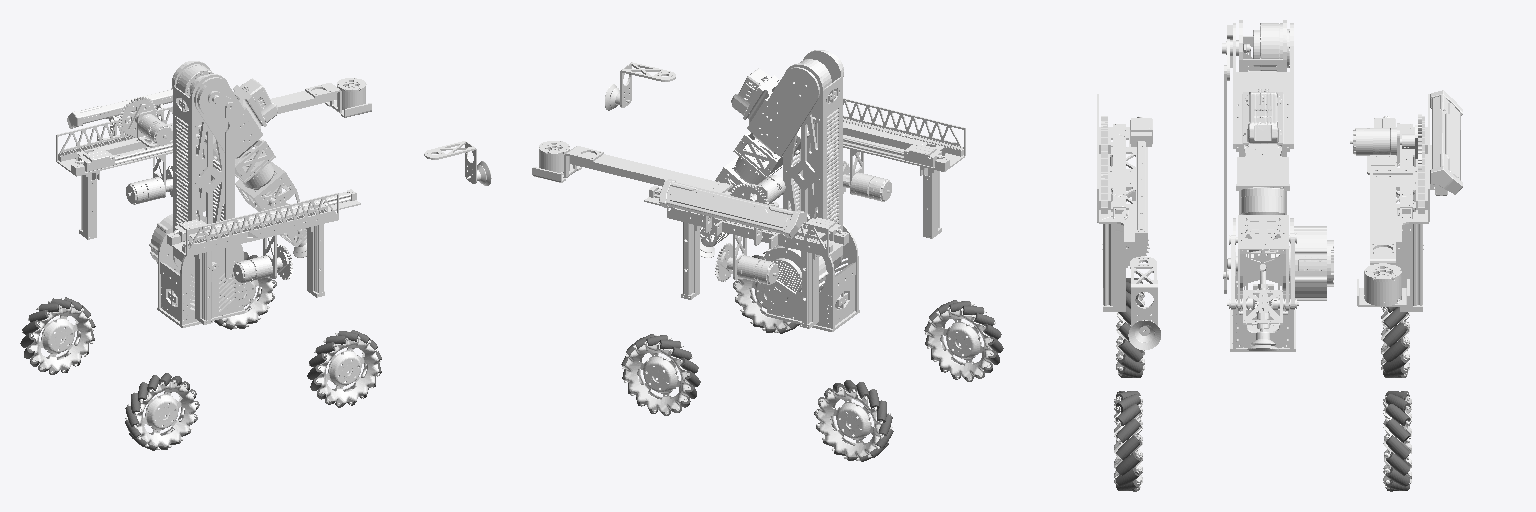
--- What the picture shows (computed from the rendered views, not written in the file) ---
The picture shows the robot from 3 angles, left to right: view 1: azimuth 30°, elevation 25°; view 2: azimuth 150°, elevation 25°; view 3: azimuth 270°, elevation 25°; orthographic projection.
Robot: engineer — 84 links, 83 joints (9 revolute, 68 continuous, 4 prismatic, 2 fixed); root link base_link; default pose: all joints at 0 but 5 set to mid-range because 0 is outside their limits (link2_joint = 1.05, left_z_joint = 0.0448, left_x_joint = 0.1548, right_z_joint = 0.0448, right_x_joint = 0.1548).
Visible links, largest first — view 1: right_z_link, link2, left_z_link, link1, left_x_link, link3, wheel_RB, wheel_LB, wheel_RF, link5, wheel_LF, right_yaw_link (+1 smaller); view 2: left_z_link, link2, right_z_link, link1, link3, left_x_link, wheel_LF, wheel_RB, wheel_LB, wheel_RF, right_yaw_link, link4 (+1 smaller); view 3: right_z_link, left_z_link, left_x_link, link1, link3, link2, link5, right_yaw_link, link4, link6, wheel_RF, wheel_LF (+1 smaller).
Boxes of the visible links, bbox=[...] form: right_z_link: bbox=[167, 189, 360, 324]; link2: bbox=[173, 61, 235, 280]; left_z_link: bbox=[56, 88, 260, 239]; link1: bbox=[149, 212, 244, 327]; left_x_link: bbox=[119, 78, 371, 147]; link3: bbox=[172, 61, 277, 162]; wheel_RB: bbox=[125, 378, 197, 449]; wheel_LB: bbox=[22, 298, 93, 373]; wheel_RF: bbox=[309, 331, 380, 405]; link5: bbox=[235, 153, 303, 236]; wheel_LF: bbox=[222, 277, 275, 328]; right_yaw_link: bbox=[424, 141, 491, 185]; left_z_link: bbox=[644, 179, 848, 328]; link2: bbox=[783, 50, 843, 269]; right_z_link: bbox=[749, 98, 965, 238]; link1: bbox=[760, 214, 859, 331]; link3: bbox=[731, 50, 843, 156]; left_x_link: bbox=[532, 141, 785, 206]; wheel_LF: bbox=[622, 335, 694, 414]; wheel_RB: bbox=[925, 301, 1000, 380]; wheel_LB: bbox=[816, 386, 892, 460]; wheel_RF: bbox=[734, 278, 790, 332]; right_yaw_link: bbox=[605, 62, 675, 110]; link4: bbox=[733, 132, 796, 178]; right_z_link: bbox=[1097, 94, 1152, 311]; left_z_link: bbox=[1374, 90, 1462, 311]; left_x_link: bbox=[1350, 114, 1421, 306]; link1: bbox=[1223, 218, 1333, 351]; link3: bbox=[1227, 23, 1293, 155]; link2: bbox=[1222, 20, 1289, 293]; link5: bbox=[1229, 188, 1296, 310]; right_yaw_link: bbox=[1128, 256, 1160, 349]; link4: bbox=[1236, 144, 1289, 190]; link6: bbox=[1227, 264, 1298, 331]; wheel_RF: bbox=[1114, 393, 1142, 488]; wheel_LF: bbox=[1383, 393, 1411, 488].
Size in the robot's own frame: 0.8085 by 0.555 by 0.6806 metres.
Meshes: 17 distinct files referenced, 79 mesh visuals loaded (14 binary STL); not drawn: 3 (reference not matched to a file when rendering).

The robot description file, URDF, robot "engineer":
<?xml version="1.0" ?>
<!-- =================================================================================== -->
<!-- |    This document was autogenerated by xacro from engineer_robot.urdf.xacro      | -->
<!-- |    EDITING THIS FILE BY HAND IS NOT RECOMMENDED                                 | -->
<!-- =================================================================================== -->
<robot name="engineer">
  &gt;

  
  <!-- 深度相机 -->
  <gazebo reference="engineer_depth_camera_link">
    <sensor name="engineer_depth_camera_sensor" type="depth">
      <always_on>1</always_on>
      <update_rate>100</update_rate>
      <camera name="engineer_depth_camera">
        <horizontal_fov>1.3962634</horizontal_fov>
        <image>
          <width>640</width>
          <height>360</height>
          <format>R8G8B8</format>
        </image>
        <clip>
          <near>0.02</near>
          <far>300</far>
        </clip>
        <noise>
          <type>gaussian</type>
          <mean>0.0</mean>
          <stddev>0.007</stddev>
          <!-- 噪声参数 -->
        </noise>
        <distortion>
          <k1>0.0</k1>
          <k2>0.0</k2>
          <k3>0.0</k3>
          <p1>0.0</p1>
          <p2>0.0</p2>
          <center>0.0 0.0</center>
        </distortion>
      </camera>
      <plugin filename="libgazebo_ros_camera.so" name="engineer_depth_camera_plugin">
        <ros>
          <namespace>engineer</namespace>
          <remapping>custom_camera/image_raw:=custom_camera/custom_image</remapping>
          <remapping>custom_camera/image_depth:=custom_camera/custom_image_depth</remapping>
          <remapping>custom_camera/camera_info:=custom_camera/custom_info_raw</remapping>
          <remapping>custom_camera/camera_info_depth:=custom_camera/custom_info_depth</remapping>
          <remapping>custom_camera/points:=custom_camera/custom_points</remapping>
        </ros>
        <camera_name>engineer_depth_camera</camera_name>
        <frame_name>engineer_depth_camera_optical_link</frame_name>
        <hack_baseline>0.07</hack_baseline>
        <min_depth>0.0001</min_depth>
      </plugin>
    </sensor>
  </gazebo>
  <!-- 麦轮 -->
  <gazebo>
    <plugin filename="libgazebo_ros_planar_move.so" name="wheel_controller">
      <ros>
        <namespace>engineer</namespace>
        <remapping>cmd_vel:=cmd_vel</remapping>
        <remapping>odom:=odom</remapping>
      </ros>
      <commandTopic>cmd_vel</commandTopic>
      <odometryTopic>odom</odometryTopic>
      <odometryFrame>odom</odometryFrame>
      <leftFrontJoint>LF_joint</leftFrontJoint>
      <rightFrontJoint>RF_joint</rightFrontJoint>
      <leftRearJoint>LB_joint</leftRearJoint>
      <rightRearJoint>RB_joint</rightRearJoint>
      <odometryRate>100</odometryRate>
      <robotBaseFrame>base_link</robotBaseFrame>
      <broadcastTF>1</broadcastTF>
    </plugin>
  </gazebo>
  <!-- ros2_control -->
  <ros2_control name="GazeboSystem" type="system">
    <hardware>
      <plugin>gazebo_ros2_control/GazeboSystem</plugin>
    </hardware>
    <joint name="LF_joint">
      <command_interface name="position"/>
      <state_interface name="position">
        <param name="initial_value">0</param>
      </state_interface>
      <state_interface name="velocity"/>
    </joint>
    <joint name="RF_joint">
      <command_interface name="position"/>
      <state_interface name="position">
        <param name="initial_value">0</param>
      </state_interface>
      <state_interface name="velocity"/>
    </joint>
    <joint name="RB_joint">
      <command_interface name="position"/>
      <state_interface name="position">
        <param name="initial_value">0</param>
      </state_interface>
      <state_interface name="velocity"/>
    </joint>
    <joint name="LB_joint">
      <command_interface name="position"/>
      <state_interface name="position">
        <param name="initial_value">0</param>
      </state_interface>
      <state_interface name="velocity"/>
    </joint>
    <joint name="link1_joint">
      <command_interface name="position"/>
      <state_interface name="position">
        <param name="initial_value">0</param>
      </state_interface>
      <state_interface name="velocity"/>
    </joint>
    <joint name="link2_joint">
      <command_interface name="position"/>
      <state_interface name="position">
        <param name="initial_value">0</param>
      </state_interface>
      <state_interface name="velocity"/>
    </joint>
    <joint name="link3_joint">
      <command_interface name="position"/>
      <state_interface name="position">
        <param name="initial_value">0</param>
      </state_interface>
      <state_interface name="velocity"/>
    </joint>
    <joint name="link4_joint">
      <command_interface name="position"/>
      <state_interface name="position">
        <param name="initial_value">0</param>
      </state_interface>
      <state_interface name="velocity"/>
    </joint>
    <joint name="link5_joint">
      <command_interface name="position"/>
      <state_interface name="position">
        <param name="initial_value">0</param>
      </state_interface>
      <state_interface name="velocity"/>
    </joint>
    <joint name="link6_joint">
      <command_interface name="position"/>
      <state_interface name="position">
        <param name="initial_value">0</param>
      </state_interface>
      <state_interface name="velocity"/>
    </joint>
    <joint name="link7_joint">
      <command_interface name="position"/>
      <state_interface name="position">
        <param name="initial_value">0</param>
      </state_interface>
      <state_interface name="velocity"/>
    </joint>
    <joint name="left_z_joint">
      <command_interface name="position"/>
      <state_interface name="position">
        <param name="initial_value">0</param>
      </state_interface>
      <state_interface name="velocity"/>
    </joint>
    <joint name="left_x_joint">
      <command_interface name="position"/>
      <state_interface name="position">
        <param name="initial_value">0</param>
      </state_interface>
      <state_interface name="velocity"/>
    </joint>
    <joint name="left_yaw_joint">
      <command_interface name="position"/>
      <state_interface name="position">
        <param name="initial_value">0</param>
      </state_interface>
      <state_interface name="velocity"/>
    </joint>
    <joint name="right_z_joint">
      <command_interface name="position"/>
      <state_interface name="position">
        <param name="initial_value">0</param>
      </state_interface>
      <state_interface name="velocity"/>
    </joint>
    <joint name="right_x_joint">
      <command_interface name="position"/>
      <state_interface name="position">
        <param name="initial_value">0</param>
      </state_interface>
      <state_interface name="velocity"/>
    </joint>
    <joint name="right_yaw_joint">
      <command_interface name="position"/>
      <state_interface name="position">
        <param name="initial_value">0</param>
      </state_interface>
      <state_interface name="velocity"/>
    </joint>
  </ros2_control>
  <!-- 加载ros2_control插件 -->
  <gazebo>
    <plugin filename="libgazebo_ros2_control.so" name="engineer_ros2_control">
      <ros>
        <namespace>engineer</namespace>
      </ros>
      <parameters>/media/linji/d/Ubuntu22.04/ros2_ws/install/engineer_gazebo_sim/share/engineer_gazebo_sim/gazebo_classic/config/engineer_ros2_controllers.yaml</parameters>
      <robot_param>robot_description</robot_param>
      <robot_param_node>robot_state_publisher</robot_param_node>
    </plugin>
  </gazebo>
  <!-- <link name="world"/>
  <joint name="base_joint" type="planar">
    <origin rpy="0 0 0" xyz="0 0 0"/>
    <parent link="world"/>
    <child link="base_link"/>
    <axis xyz="0 0 0"/>
  </joint> -->
  <link name="base_link">
    <inertial>
      <origin rpy="0 0 0" xyz="0.005227 0.003946 0.069171"/>
      <mass value="11.8124"/>
      <inertia ixx="0.460669" ixy="-0.020119" ixz="0.002386" iyy="0.348855" iyz="0.003757" izz="0.666791"/>
    </inertial>
    <visual>
      <origin rpy="0 0 0" xyz="0 0 0"/>
      <geometry>
        <mesh filename="package://engineer_description/meshes/base_link.STL"/>
      </geometry>
      <material name="">
        <color rgba="0.752941176470588 0.752941176470588 0.752941176470588 1"/>
      </material>
    </visual>
    <collision>
      <origin rpy="0 0 0" xyz="0 0 0"/>
      <geometry>
        <mesh filename="package://engineer_description/meshes/base_link.STL"/>
      </geometry>
    </collision>
  </link>
  <joint name="LF_joint" type="continuous">
    <parent link="base_link"/>
    <child link="wheel_LF"/>
    <origin rpy="-1.5708 0 0" xyz="0.20286 0.2023 -0.012411"/>
    <axis xyz="0 0 1"/>
    <!-- <dynamics damping="3.0" friction="5.0"/> -->
  </joint>
  <link name="wheel_LF">
    <visual>
      <origin rpy="0 0 0" xyz="0 0 0"/>
      <geometry>
        <mesh filename="package://engineer_description/meshes/right-threaded_mecanum_wheel_wheel.STL"/>
      </geometry>
      <material name="white">
        <color rgba="1.0 1.0 1.0 1.0"/>
      </material>
    </visual>
    <collision>
      <origin rpy="0 0 0" xyz="0 0 0"/>
      <geometry>
        <mesh filename="package://engineer_description/meshes/right-threaded_mecanum_wheel_wheel.STL"/>
      </geometry>
    </collision>
    <inertial>
      <origin rpy="0 0 0" xyz="0 0 0"/>
      <mass value="0.007056"/>
      <inertia ixx="0.000017" ixy="0" ixz="0" iyy="0.000017" iyz="0" izz="0.000033"/>
    </inertial>
  </link>
  <joint name="roller_LF_1_joint" type="continuous">
    <parent link="wheel_LF"/>
    <child link="roller_LF_1_link"/>
    <origin rpy="-0.7854 0 0.106101" xyz="0.0665813309591685 0.007090974485087869 0.0019"/>
    <axis xyz="0 0 1"/>
    <dynamics damping="0.0" friction="0.0"/>
  </joint>
  <link name="roller_LF_1_link">
    <visual>
      <origin rpy="0 0 0" xyz="0 0 0"/>
      <geometry>
        <mesh filename="package://engineer_description/meshes/roller.STL"/>
      </geometry>
      <material name="gray">
        <color rgba="0.5 0.5 0.5 1.0"/>
      </material>
    </visual>
    <collision>
      <origin rpy="0 0 0" xyz="0 0 0"/>
      <geometry>
        <mesh filename="package://engineer_description/meshes/roller.STL"/>
      </geometry>
    </collision>
    <inertial>
      <origin rpy="0 0 0" xyz="0 0 0"/>
      <mass value="0.008738"/>
      <inertia ixx="0.000001" ixy="0" ixz="0" iyy="0.000001" iyz="0" izz="0.000001"/>
    </inertial>
  </link>
  <joint name="roller_LF_2_joint" type="continuous">
    <parent link="wheel_LF"/>
    <child link="roller_LF_2_link"/>
    <origin rpy="-0.7854 0 0.4988" xyz="0.05879953308264269 0.03203077365137633 0.0019"/>
    <axis xyz="0 0 1"/>
    <dynamics damping="0.0" friction="0.0"/>
  </joint>
  <link name="roller_LF_2_link">
    <visual>
      <origin rpy="0 0 0" xyz="0 0 0"/>
      <geometry>
        <mesh filename="package://engineer_description/meshes/roller.STL"/>
      </geometry>
      <material name="gray">
        <color rgba="0.5 0.5 0.5 1.0"/>
      </material>
    </visual>
    <collision>
      <origin rpy="0 0 0" xyz="0 0 0"/>
      <geometry>
        <mesh filename="package://engineer_description/meshes/roller.STL"/>
      </geometry>
    </collision>
    <inertial>
      <origin rpy="0 0 0" xyz="0 0 0"/>
      <mass value="0.008738"/>
      <inertia ixx="0.000001" ixy="0" ixz="0" iyy="0.000001" iyz="0" izz="0.000001"/>
    </inertial>
  </link>
  <joint name="roller_LF_3_joint" type="continuous">
    <parent link="wheel_LF"/>
    <child link="roller_LF_3_link"/>
    <origin rpy="-0.7854 0 0.891499" xyz="0.04206604299008407 0.0520941798917969 0.0019"/>
    <axis xyz="0 0 1"/>
    <dynamics damping="0.0" friction="0.0"/>
  </joint>
  <link name="roller_LF_3_link">
    <visual>
      <origin rpy="0 0 0" xyz="0 0 0"/>
      <geometry>
        <mesh filename="package://engineer_description/meshes/roller.STL"/>
      </geometry>
      <material name="gray">
        <color rgba="0.5 0.5 0.5 1.0"/>
      </material>
    </visual>
    <collision>
      <origin rpy="0 0 0" xyz="0 0 0"/>
      <geometry>
        <mesh filename="package://engineer_description/meshes/roller.STL"/>
      </geometry>
    </collision>
    <inertial>
      <origin rpy="0 0 0" xyz="0 0 0"/>
      <mass value="0.008738"/>
      <inertia ixx="0.000001" ixy="0" ixz="0" iyy="0.000001" iyz="0" izz="0.000001"/>
    </inertial>
  </link>
  <joint name="roller_LF_4_joint" type="continuous">
    <parent link="wheel_LF"/>
    <child link="roller_LF_4_link"/>
    <origin rpy="-0.7854 0 1.284198" xyz="0.018928381812282655 0.06422672273603056 0.0019"/>
    <axis xyz="0 0 1"/>
    <dynamics damping="0.0" friction="0.0"/>
  </joint>
  <link name="roller_LF_4_link">
    <visual>
      <origin rpy="0 0 0" xyz="0 0 0"/>
      <geometry>
        <mesh filename="package://engineer_description/meshes/roller.STL"/>
      </geometry>
      <material name="gray">
        <color rgba="0.5 0.5 0.5 1.0"/>
      </material>
    </visual>
    <collision>
      <origin rpy="0 0 0" xyz="0 0 0"/>
      <geometry>
        <mesh filename="package://engineer_description/meshes/roller.STL"/>
      </geometry>
    </collision>
    <inertial>
      <origin rpy="0 0 0" xyz="0 0 0"/>
      <mass value="0.008738"/>
      <inertia ixx="0.000001" ixy="0" ixz="0" iyy="0.000001" iyz="0" izz="0.000001"/>
    </inertial>
  </link>
  <joint name="roller_LF_5_joint" type="continuous">
    <parent link="wheel_LF"/>
    <child link="roller_LF_5_link"/>
    <origin rpy="-0.7854 0 1.676897" xyz="-0.007090952726648328 0.06658133327645922 0.0019"/>
    <axis xyz="0 0 1"/>
    <dynamics damping="0.0" friction="0.0"/>
  </joint>
  <link name="roller_LF_5_link">
    <visual>
      <origin rpy="0 0 0" xyz="0 0 0"/>
      <geometry>
        <mesh filename="package://engineer_description/meshes/roller.STL"/>
      </geometry>
      <material name="gray">
        <color rgba="0.5 0.5 0.5 1.0"/>
      </material>
    </visual>
    <collision>
      <origin rpy="0 0 0" xyz="0 0 0"/>
      <geometry>
        <mesh filename="package://engineer_description/meshes/roller.STL"/>
      </geometry>
    </collision>
    <inertial>
      <origin rpy="0 0 0" xyz="0 0 0"/>
      <mass value="0.008738"/>
      <inertia ixx="0.000001" ixy="0" ixz="0" iyy="0.000001" iyz="0" izz="0.000001"/>
    </inertial>
  </link>
  <joint name="roller_LF_6_joint" type="continuous">
    <parent link="wheel_LF"/>
    <child link="roller_LF_6_link"/>
    <origin rpy="-0.7854 0 2.069596" xyz="-0.032030754435987296 0.058799543550132914 0.0019"/>
    <axis xyz="0 0 1"/>
    <dynamics damping="0.0" friction="0.0"/>
  </joint>
  <link name="roller_LF_6_link">
    <visual>
      <origin rpy="0 0 0" xyz="0 0 0"/>
      <geometry>
        <mesh filename="package://engineer_description/meshes/roller.STL"/>
      </geometry>
      <material name="gray">
        <color rgba="0.5 0.5 0.5 1.0"/>
      </material>
    </visual>
    <collision>
      <origin rpy="0 0 0" xyz="0 0 0"/>
      <geometry>
        <mesh filename="package://engineer_description/meshes/roller.STL"/>
      </geometry>
    </collision>
    <inertial>
      <origin rpy="0 0 0" xyz="0 0 0"/>
      <mass value="0.008738"/>
      <inertia ixx="0.000001" ixy="0" ixz="0" iyy="0.000001" iyz="0" izz="0.000001"/>
    </inertial>
  </link>
  <joint name="roller_LF_7_joint" type="continuous">
    <parent link="wheel_LF"/>
    <child link="roller_LF_7_link"/>
    <origin rpy="-0.7854 0 2.462295" xyz="-0.05209416614482594 0.042066060014193954 0.0019"/>
    <axis xyz="0 0 1"/>
    <dynamics damping="0.0" friction="0.0"/>
  </joint>
  <link name="roller_LF_7_link">
    <visual>
      <origin rpy="0 0 0" xyz="0 0 0"/>
      <geometry>
        <mesh filename="package://engineer_description/meshes/roller.STL"/>
      </geometry>
      <material name="gray">
        <color rgba="0.5 0.5 0.5 1.0"/>
      </material>
    </visual>
    <collision>
      <origin rpy="0 0 0" xyz="0 0 0"/>
      <geometry>
        <mesh filename="package://engineer_description/meshes/roller.STL"/>
      </geometry>
    </collision>
    <inertial>
      <origin rpy="0 0 0" xyz="0 0 0"/>
      <mass value="0.008738"/>
      <inertia ixx="0.000001" ixy="0" ixz="0" iyy="0.000001" iyz="0" izz="0.000001"/>
    </inertial>
  </link>
  <joint name="roller_LF_8_joint" type="continuous">
    <parent link="wheel_LF"/>
    <child link="roller_LF_8_link"/>
    <origin rpy="-0.7854 0 2.854994" xyz="-0.06422671655032855 0.018928402801246857 0.0019"/>
    <axis xyz="0 0 1"/>
    <dynamics damping="0.0" friction="0.0"/>
  </joint>
  <link name="roller_LF_8_link">
    <visual>
      <origin rpy="0 0 0" xyz="0 0 0"/>
      <geometry>
        <mesh filename="package://engineer_description/meshes/roller.STL"/>
      </geometry>
      <material name="gray">
        <color rgba="0.5 0.5 0.5 1.0"/>
      </material>
    </visual>
    <collision>
      <origin rpy="0 0 0" xyz="0 0 0"/>
      <geometry>
        <mesh filename="package://engineer_description/meshes/roller.STL"/>
      </geometry>
    </collision>
    <inertial>
      <origin rpy="0 0 0" xyz="0 0 0"/>
      <mass value="0.008738"/>
      <inertia ixx="0.000001" ixy="0" ixz="0" iyy="0.000001" iyz="0" izz="0.000001"/>
    </inertial>
  </link>
  <joint name="roller_LF_9_joint" type="continuous">
    <parent link="wheel_LF"/>
    <child link="roller_LF_9_link"/>
    <origin rpy="-0.7854 0 3.247694" xyz="-0.06658132850277856 -0.007090997549540072 0.0019"/>
    <axis xyz="0 0 1"/>
    <dynamics damping="0.0" friction="0.0"/>
  </joint>
  <link name="roller_LF_9_link">
    <visual>
      <origin rpy="0 0 0" xyz="0 0 0"/>
      <geometry>
        <mesh filename="package://engineer_description/meshes/roller.STL"/>
      </geometry>
      <material name="gray">
        <color rgba="0.5 0.5 0.5 1.0"/>
      </material>
    </visual>
    <collision>
      <origin rpy="0 0 0" xyz="0 0 0"/>
      <geometry>
        <mesh filename="package://engineer_description/meshes/roller.STL"/>
      </geometry>
    </collision>
    <inertial>
      <origin rpy="0 0 0" xyz="0 0 0"/>
      <mass value="0.008738"/>
      <inertia ixx="0.000001" ixy="0" ixz="0" iyy="0.000001" iyz="0" izz="0.000001"/>
    </inertial>
  </link>
  <joint name="roller_LF_10_joint" type="continuous">
    <parent link="wheel_LF"/>
    <child link="roller_LF_10_link"/>
    <origin rpy="-0.7854 0 3.640393" xyz="-0.058799521986852246 -0.03203079402013282 0.0019"/>
    <axis xyz="0 0 1"/>
    <dynamics damping="0.0" friction="0.0"/>
  </joint>
  <link name="roller_LF_10_link">
    <visual>
      <origin rpy="0 0 0" xyz="0 0 0"/>
      <geometry>
        <mesh filename="package://engineer_description/meshes/roller.STL"/>
      </geometry>
      <material name="gray">
        <color rgba="0.5 0.5 0.5 1.0"/>
      </material>
    </visual>
    <collision>
      <origin rpy="0 0 0" xyz="0 0 0"/>
      <geometry>
        <mesh filename="package://engineer_description/meshes/roller.STL"/>
      </geometry>
    </collision>
    <inertial>
      <origin rpy="0 0 0" xyz="0 0 0"/>
      <mass value="0.008738"/>
      <inertia ixx="0.000001" ixy="0" ixz="0" iyy="0.000001" iyz="0" izz="0.000001"/>
    </inertial>
  </link>
  <joint name="roller_LF_11_joint" type="continuous">
    <parent link="wheel_LF"/>
    <child link="roller_LF_11_link"/>
    <origin rpy="-0.7854 0 4.033092" xyz="-0.04206602494412593 -0.052094194463900415 0.0019"/>
    <axis xyz="0 0 1"/>
    <dynamics damping="0.0" friction="0.0"/>
  </joint>
  <link name="roller_LF_11_link">
    <visual>
      <origin rpy="0 0 0" xyz="0 0 0"/>
      <geometry>
        <mesh filename="package://engineer_description/meshes/roller.STL"/>
      </geometry>
      <material name="gray">
        <color rgba="0.5 0.5 0.5 1.0"/>
      </material>
    </visual>
    <collision>
      <origin rpy="0 0 0" xyz="0 0 0"/>
      <geometry>
        <mesh filename="package://engineer_description/meshes/roller.STL"/>
      </geometry>
    </collision>
    <inertial>
      <origin rpy="0 0 0" xyz="0 0 0"/>
      <mass value="0.008738"/>
      <inertia ixx="0.000001" ixy="0" ixz="0" iyy="0.000001" iyz="0" izz="0.000001"/>
    </inertial>
  </link>
  <joint name="roller_LF_12_joint" type="continuous">
    <parent link="wheel_LF"/>
    <child link="roller_LF_12_link"/>
    <origin rpy="-0.7854 0 4.425791" xyz="-0.0189283595634892 -0.06422672929301136 0.0019"/>
    <axis xyz="0 0 1"/>
    <dynamics damping="0.0" friction="0.0"/>
  </joint>
  <link name="roller_LF_12_link">
    <visual>
      <origin rpy="0 0 0" xyz="0 0 0"/>
      <geometry>
        <mesh filename="package://engineer_description/meshes/roller.STL"/>
      </geometry>
      <material name="gray">
        <color rgba="0.5 0.5 0.5 1.0"/>
      </material>
    </visual>
    <collision>
      <origin rpy="0 0 0" xyz="0 0 0"/>
      <geometry>
        <mesh filename="package://engineer_description/meshes/roller.STL"/>
      </geometry>
    </collision>
    <inertial>
      <origin rpy="0 0 0" xyz="0 0 0"/>
      <mass value="0.008738"/>
      <inertia ixx="0.000001" ixy="0" ixz="0" iyy="0.000001" iyz="0" izz="0.000001"/>
    </inertial>
  </link>
  <joint name="roller_LF_13_joint" type="continuous">
    <parent link="wheel_LF"/>
    <child link="roller_LF_13_link"/>
    <origin rpy="-0.7854 0 4.81849" xyz="0.007090975791101305 -0.06658133082007683 0.0019"/>
    <axis xyz="0 0 1"/>
    <dynamics damping="0.0" friction="0.0"/>
  </joint>
  <link name="roller_LF_13_link">
    <visual>
      <origin rpy="0 0 0" xyz="0 0 0"/>
      <geometry>
        <mesh filename="package://engineer_description/meshes/roller.STL"/>
      </geometry>
      <material name="gray">
        <color rgba="0.5 0.5 0.5 1.0"/>
      </material>
    </visual>
    <collision>
      <origin rpy="0 0 0" xyz="0 0 0"/>
      <geometry>
        <mesh filename="package://engineer_description/meshes/roller.STL"/>
      </geometry>
    </collision>
    <inertial>
      <origin rpy="0 0 0" xyz="0 0 0"/>
      <mass value="0.008738"/>
      <inertia ixx="0.000001" ixy="0" ixz="0" iyy="0.000001" iyz="0" izz="0.000001"/>
    </inertial>
  </link>
  <joint name="roller_LF_14_joint" type="continuous">
    <parent link="wheel_LF"/>
    <child link="roller_LF_14_link"/>
    <origin rpy="-0.7854 0 5.211189" xyz="0.03203077480474741 -0.05879953245434912 0.0019"/>
    <axis xyz="0 0 1"/>
    <dynamics damping="0.0" friction="0.0"/>
  </joint>
  <link name="roller_LF_14_link">
    <visual>
      <origin rpy="0 0 0" xyz="0 0 0"/>
      <geometry>
        <mesh filename="package://engineer_description/meshes/roller.STL"/>
      </geometry>
      <material name="gray">
        <color rgba="0.5 0.5 0.5 1.0"/>
      </material>
    </visual>
    <collision>
      <origin rpy="0 0 0" xyz="0 0 0"/>
      <geometry>
        <mesh filename="package://engineer_description/meshes/roller.STL"/>
      </geometry>
    </collision>
    <inertial>
      <origin rpy="0 0 0" xyz="0 0 0"/>
      <mass value="0.008738"/>
      <inertia ixx="0.000001" ixy="0" ixz="0" iyy="0.000001" iyz="0" izz="0.000001"/>
    </inertial>
  </link>
  <joint name="roller_LF_15_joint" type="continuous">
    <parent link="wheel_LF"/>
    <child link="roller_LF_15_link"/>
    <origin rpy="-0.7854 0 5.603888" xyz="0.052094180716935376 -0.04206604196824054 0.0019"/>
    <axis xyz="0 0 1"/>
    <dynamics damping="0.0" friction="0.0"/>
  </joint>
  <link name="roller_LF_15_link">
    <visual>
      <origin rpy="0 0 0" xyz="0 0 0"/>
      <geometry>
        <mesh filename="package://engineer_description/meshes/roller.STL"/>
      </geometry>
      <material name="gray">
        <color rgba="0.5 0.5 0.5 1.0"/>
      </material>
    </visual>
    <collision>
      <origin rpy="0 0 0" xyz="0 0 0"/>
      <geometry>
        <mesh filename="package://engineer_description/meshes/roller.STL"/>
      </geometry>
    </collision>
    <inertial>
      <origin rpy="0 0 0" xyz="0 0 0"/>
      <mass value="0.008738"/>
      <inertia ixx="0.000001" ixy="0" ixz="0" iyy="0.000001" iyz="0" izz="0.000001"/>
    </inertial>
  </link>
  <joint name="roller_LF_16_joint" type="continuous">
    <parent link="wheel_LF"/>
    <child link="roller_LF_16_link"/>
    <origin rpy="-0.7854 0 5.996587" xyz="0.06422672310731661 -0.01892838055245557 0.0019"/>
    <axis xyz="0 0 1"/>
    <dynamics damping="0.0" friction="0.0"/>
  </joint>
  <link name="roller_LF_16_link">
    <visual>
      <origin rpy="0 0 0" xyz="0 0 0"/>
      <geometry>
        <mesh filename="package://engineer_description/meshes/roller.STL"/>
      </geometry>
      <material name="gray">
        <color rgba="0.5 0.5 0.5 1.0"/>
      </material>
    </visual>
    <collision>
      <origin rpy="0 0 0" xyz="0 0 0"/>
      <geometry>
        <mesh filename="package://engineer_description/meshes/roller.STL"/>
      </geometry>
    </collision>
    <inertial>
      <origin rpy="0 0 0" xyz="0 0 0"/>
      <mass value="0.008738"/>
      <inertia ixx="0.000001" ixy="0" ixz="0" iyy="0.000001" iyz="0" izz="0.000001"/>
    </inertial>
  </link>
  <joint name="RF_joint" type="continuous">
    <parent link="base_link"/>
    <child link="wheel_RF"/>
    <origin rpy="-1.5708 0 0" xyz="0.20286 -0.2023 -0.012411"/>
    <axis xyz="0 0 1"/>
    <!-- <dynamics damping="3.0" friction="5.0"/> -->
  </joint>
  <link name="wheel_RF">
    <visual>
      <origin rpy="0 0 0" xyz="0 0 0"/>
      <geometry>
        <mesh filename="package://engineer_description/meshes/left-threaded_mecanum_wheel_wheel.STL"/>
      </geometry>
      <material name="white">
        <color rgba="1.0 1.0 1.0 1.0"/>
      </material>
    </visual>
    <collision>
      <origin rpy="0 0 0" xyz="0 0 0"/>
      <geometry>
        <mesh filename="package://engineer_description/meshes/left-threaded_mecanum_wheel_wheel.STL"/>
      </geometry>
    </collision>
    <inertial>
      <origin rpy="0 0 0" xyz="0 0 0"/>
      <mass value="0.007056"/>
      <inertia ixx="0.000017" ixy="0" ixz="0" iyy="0.000017" iyz="0" izz="0.000033"/>
    </inertial>
  </link>
  <joint name="roller_RF_1_joint" type="continuous">
    <parent link="wheel_RF"/>
    <child link="roller_RF_1_link"/>
    <origin rpy="0.7854 0 0.106101" xyz="0.0665813309591685 0.007090974485087869 -0.0019"/>
    <axis xyz="0 0 1"/>
    <dynamics damping="0.0" friction="0.0"/>
  </joint>
  <link name="roller_RF_1_link">
    <visual>
      <origin rpy="0 0 0" xyz="0 0 0"/>
      <geometry>
        <mesh filename="package://engineer_description/meshes/roller.STL"/>
      </geometry>
      <material name="gray">
        <color rgba="0.5 0.5 0.5 1.0"/>
      </material>
    </visual>
    <collision>
      <origin rpy="0 0 0" xyz="0 0 0"/>
      <geometry>
        <mesh filename="package://engineer_description/meshes/roller.STL"/>
      </geometry>
    </collision>
    <inertial>
      <origin rpy="0 0 0" xyz="0 0 0"/>
      <mass value="0.008738"/>
      <inertia ixx="0.000001" ixy="0" ixz="0" iyy="0.000001" iyz="0" izz="0.000001"/>
    </inertial>
  </link>
  <joint name="roller_RF_2_joint" type="continuous">
    <parent link="wheel_RF"/>
    <child link="roller_RF_2_link"/>
    <origin rpy="0.7854 0 0.4988" xyz="0.05879953308264269 0.03203077365137633 -0.0019"/>
    <axis xyz="0 0 1"/>
    <dynamics damping="0.0" friction="0.0"/>
  </joint>
  <link name="roller_RF_2_link">
    <visual>
      <origin rpy="0 0 0" xyz="0 0 0"/>
      <geometry>
        <mesh filename="package://engineer_description/meshes/roller.STL"/>
      </geometry>
      <material name="gray">
        <color rgba="0.5 0.5 0.5 1.0"/>
      </material>
    </visual>
    <collision>
      <origin rpy="0 0 0" xyz="0 0 0"/>
      <geometry>
        <mesh filename="package://engineer_description/meshes/roller.STL"/>
      </geometry>
    </collision>
    <inertial>
      <origin rpy="0 0 0" xyz="0 0 0"/>
      <mass value="0.008738"/>
      <inertia ixx="0.000001" ixy="0" ixz="0" iyy="0.000001" iyz="0" izz="0.000001"/>
    </inertial>
  </link>
  <joint name="roller_RF_3_joint" type="continuous">
    <parent link="wheel_RF"/>
    <child link="roller_RF_3_link"/>
    <origin rpy="0.7854 0 0.891499" xyz="0.04206604299008407 0.0520941798917969 -0.0019"/>
    <axis xyz="0 0 1"/>
    <dynamics damping="0.0" friction="0.0"/>
  </joint>
  <link name="roller_RF_3_link">
    <visual>
      <origin rpy="0 0 0" xyz="0 0 0"/>
      <geometry>
        <mesh filename="package://engineer_description/meshes/roller.STL"/>
      </geometry>
      <material name="gray">
        <color rgba="0.5 0.5 0.5 1.0"/>
      </material>
    </visual>
    <collision>
      <origin rpy="0 0 0" xyz="0 0 0"/>
      <geometry>
        <mesh filename="package://engineer_description/meshes/roller.STL"/>
      </geometry>
    </collision>
    <inertial>
      <origin rpy="0 0 0" xyz="0 0 0"/>
      <mass value="0.008738"/>
      <inertia ixx="0.000001" ixy="0" ixz="0" iyy="0.000001" iyz="0" izz="0.000001"/>
    </inertial>
  </link>
  <joint name="roller_RF_4_joint" type="continuous">
    <parent link="wheel_RF"/>
    <child link="roller_RF_4_link"/>
    <origin rpy="0.7854 0 1.284198" xyz="0.018928381812282655 0.06422672273603056 -0.0019"/>
    <axis xyz="0 0 1"/>
    <dynamics damping="0.0" friction="0.0"/>
  </joint>
  <link name="roller_RF_4_link">
    <visual>
      <origin rpy="0 0 0" xyz="0 0 0"/>
      <geometry>
        <mesh filename="package://engineer_description/meshes/roller.STL"/>
      </geometry>
      <material name="gray">
        <color rgba="0.5 0.5 0.5 1.0"/>
      </material>
    </visual>
    <collision>
      <origin rpy="0 0 0" xyz="0 0 0"/>
      <geometry>
        <mesh filename="package://engineer_description/meshes/roller.STL"/>
      </geometry>
    </collision>
    <inertial>
      <origin rpy="0 0 0" xyz="0 0 0"/>
      <mass value="0.008738"/>
      <inertia ixx="0.000001" ixy="0" ixz="0" iyy="0.000001" iyz="0" izz="0.000001"/>
    </inertial>
  </link>
  <joint name="roller_RF_5_joint" type="continuous">
    <parent link="wheel_RF"/>
    <child link="roller_RF_5_link"/>
    <origin rpy="0.7854 0 1.676897" xyz="-0.007090952726648328 0.06658133327645922 -0.0019"/>
    <axis xyz="0 0 1"/>
    <dynamics damping="0.0" friction="0.0"/>
  </joint>
  <link name="roller_RF_5_link">
    <visual>
      <origin rpy="0 0 0" xyz="0 0 0"/>
      <geometry>
        <mesh filename="package://engineer_description/meshes/roller.STL"/>
      </geometry>
      <material name="gray">
        <color rgba="0.5 0.5 0.5 1.0"/>
      </material>
    </visual>
    <collision>
      <origin rpy="0 0 0" xyz="0 0 0"/>
      <geometry>
        <mesh filename="package://engineer_description/meshes/roller.STL"/>
      </geometry>
    </collision>
    <inertial>
      <origin rpy="0 0 0" xyz="0 0 0"/>
      <mass value="0.008738"/>
      <inertia ixx="0.000001" ixy="0" ixz="0" iyy="0.000001" iyz="0" izz="0.000001"/>
    </inertial>
  </link>
  <joint name="roller_RF_6_joint" type="continuous">
    <parent link="wheel_RF"/>
    <child link="roller_RF_6_link"/>
    <origin rpy="0.7854 0 2.069596" xyz="-0.032030754435987296 0.058799543550132914 -0.0019"/>
    <axis xyz="0 0 1"/>
    <dynamics damping="0.0" friction="0.0"/>
  </joint>
  <link name="roller_RF_6_link">
    <visual>
      <origin rpy="0 0 0" xyz="0 0 0"/>
      <geometry>
        <mesh filename="package://engineer_description/meshes/roller.STL"/>
      </geometry>
      <material name="gray">
        <color rgba="0.5 0.5 0.5 1.0"/>
      </material>
    </visual>
    <collision>
      <origin rpy="0 0 0" xyz="0 0 0"/>
      <geometry>
        <mesh filename="package://engineer_description/meshes/roller.STL"/>
      </geometry>
    </collision>
    <inertial>
      <origin rpy="0 0 0" xyz="0 0 0"/>
      <mass value="0.008738"/>
      <inertia ixx="0.000001" ixy="0" ixz="0" iyy="0.000001" iyz="0" izz="0.000001"/>
    </inertial>
  </link>
  <joint name="roller_RF_7_joint" type="continuous">
    <parent link="wheel_RF"/>
    <child link="roller_RF_7_link"/>
    <origin rpy="0.7854 0 2.462295" xyz="-0.05209416614482594 0.042066060014193954 -0.0019"/>
    <axis xyz="0 0 1"/>
    <dynamics damping="0.0" friction="0.0"/>
  </joint>
  <link name="roller_RF_7_link">
    <visual>
      <origin rpy="0 0 0" xyz="0 0 0"/>
      <geometry>
        <mesh filename="package://engineer_description/meshes/roller.STL"/>
      </geometry>
      <material name="gray">
        <color rgba="0.5 0.5 0.5 1.0"/>
      </material>
    </visual>
    <collision>
      <origin rpy="0 0 0" xyz="0 0 0"/>
      <geometry>
        <mesh filename="package://engineer_description/meshes/roller.STL"/>
      </geometry>
    </collision>
    <inertial>
      <origin rpy="0 0 0" xyz="0 0 0"/>
      <mass value="0.008738"/>
      <inertia ixx="0.000001" ixy="0" ixz="0" iyy="0.000001" iyz="0" izz="0.000001"/>
    </inertial>
  </link>
  <joint name="roller_RF_8_joint" type="continuous">
    <parent link="wheel_RF"/>
    <child link="roller_RF_8_link"/>
    <origin rpy="0.7854 0 2.854994" xyz="-0.06422671655032855 0.018928402801246857 -0.0019"/>
    <axis xyz="0 0 1"/>
    <dynamics damping="0.0" friction="0.0"/>
  </joint>
  <link name="roller_RF_8_link">
    <visual>
      <origin rpy="0 0 0" xyz="0 0 0"/>
      <geometry>
        <mesh filename="package://engineer_description/meshes/roller.STL"/>
      </geometry>
      <material name="gray">
        <color rgba="0.5 0.5 0.5 1.0"/>
      </material>
    </visual>
    <collision>
      <origin rpy="0 0 0" xyz="0 0 0"/>
      <geometry>
        <mesh filename="package://engineer_description/meshes/roller.STL"/>
      </geometry>
    </collision>
    <inertial>
      <origin rpy="0 0 0" xyz="0 0 0"/>
      <mass value="0.008738"/>
      <inertia ixx="0.000001" ixy="0" ixz="0" iyy="0.000001" iyz="0" izz="0.000001"/>
    </inertial>
  </link>
  <joint name="roller_RF_9_joint" type="continuous">
    <parent link="wheel_RF"/>
    <child link="roller_RF_9_link"/>
    <origin rpy="0.7854 0 3.247694" xyz="-0.06658132850277856 -0.007090997549540072 -0.0019"/>
    <axis xyz="0 0 1"/>
    <dynamics damping="0.0" friction="0.0"/>
  </joint>
  <link name="roller_RF_9_link">
    <visual>
      <origin rpy="0 0 0" xyz="0 0 0"/>
      <geometry>
        <mesh filename="package://engineer_description/meshes/roller.STL"/>
      </geometry>
      <material name="gray">
        <color rgba="0.5 0.5 0.5 1.0"/>
      </material>
    </visual>
    <collision>
      <origin rpy="0 0 0" xyz="0 0 0"/>
      <geometry>
        <mesh filename="package://engineer_description/meshes/roller.STL"/>
      </geometry>
    </collision>
    <inertial>
      <origin rpy="0 0 0" xyz="0 0 0"/>
      <mass value="0.008738"/>
      <inertia ixx="0.000001" ixy="0" ixz="0" iyy="0.000001" iyz="0" izz="0.000001"/>
    </inertial>
  </link>
  <joint name="roller_RF_10_joint" type="continuous">
    <parent link="wheel_RF"/>
    <child link="roller_RF_10_link"/>
    <origin rpy="0.7854 0 3.640393" xyz="-0.058799521986852246 -0.03203079402013282 -0.0019"/>
    <axis xyz="0 0 1"/>
    <dynamics damping="0.0" friction="0.0"/>
  </joint>
  <link name="roller_RF_10_link">
    <visual>
      <origin rpy="0 0 0" xyz="0 0 0"/>
      <geometry>
        <mesh filename="package://engineer_description/meshes/roller.STL"/>
      </geometry>
      <material name="gray">
        <color rgba="0.5 0.5 0.5 1.0"/>
      </material>
    </visual>
    <collision>
      <origin rpy="0 0 0" xyz="0 0 0"/>
      <geometry>
        <mesh filename="package://engineer_description/meshes/roller.STL"/>
      </geometry>
    </collision>
    <inertial>
      <origin rpy="0 0 0" xyz="0 0 0"/>
      <mass value="0.008738"/>
      <inertia ixx="0.000001" ixy="0" ixz="0" iyy="0.000001" iyz="0" izz="0.000001"/>
    </inertial>
  </link>
  <joint name="roller_RF_11_joint" type="continuous">
    <parent link="wheel_RF"/>
    <child link="roller_RF_11_link"/>
    <origin rpy="0.7854 0 4.033092" xyz="-0.04206602494412593 -0.052094194463900415 -0.0019"/>
    <axis xyz="0 0 1"/>
    <dynamics damping="0.0" friction="0.0"/>
  </joint>
  <link name="roller_RF_11_link">
    <visual>
      <origin rpy="0 0 0" xyz="0 0 0"/>
      <geometry>
        <mesh filename="package://engineer_description/meshes/roller.STL"/>
      </geometry>
      <material name="gray">
        <color rgba="0.5 0.5 0.5 1.0"/>
      </material>
    </visual>
    <collision>
      <origin rpy="0 0 0" xyz="0 0 0"/>
      <geometry>
        <mesh filename="package://engineer_description/meshes/roller.STL"/>
      </geometry>
    </collision>
    <inertial>
      <origin rpy="0 0 0" xyz="0 0 0"/>
      <mass value="0.008738"/>
      <inertia ixx="0.000001" ixy="0" ixz="0" iyy="0.000001" iyz="0" izz="0.000001"/>
    </inertial>
  </link>
  <joint name="roller_RF_12_joint" type="continuous">
    <parent link="wheel_RF"/>
    <child link="roller_RF_12_link"/>
    <origin rpy="0.7854 0 4.425791" xyz="-0.0189283595634892 -0.06422672929301136 -0.0019"/>
    <axis xyz="0 0 1"/>
    <dynamics damping="0.0" friction="0.0"/>
  </joint>
  <link name="roller_RF_12_link">
    <visual>
      <origin rpy="0 0 0" xyz="0 0 0"/>
      <geometry>
        <mesh filename="package://engineer_description/meshes/roller.STL"/>
      </geometry>
      <material name="gray">
        <color rgba="0.5 0.5 0.5 1.0"/>
      </material>
    </visual>
    <collision>
      <origin rpy="0 0 0" xyz="0 0 0"/>
      <geometry>
        <mesh filename="package://engineer_description/meshes/roller.STL"/>
      </geometry>
    </collision>
    <inertial>
      <origin rpy="0 0 0" xyz="0 0 0"/>
      <mass value="0.008738"/>
      <inertia ixx="0.000001" ixy="0" ixz="0" iyy="0.000001" iyz="0" izz="0.000001"/>
    </inertial>
  </link>
  <joint name="roller_RF_13_joint" type="continuous">
    <parent link="wheel_RF"/>
    <child link="roller_RF_13_link"/>
    <origin rpy="0.7854 0 4.81849" xyz="0.007090975791101305 -0.06658133082007683 -0.0019"/>
    <axis xyz="0 0 1"/>
    <dynamics damping="0.0" friction="0.0"/>
  </joint>
  <link name="roller_RF_13_link">
    <visual>
      <origin rpy="0 0 0" xyz="0 0 0"/>
      <geometry>
        <mesh filename="package://engineer_description/meshes/roller.STL"/>
      </geometry>
      <material name="gray">
        <color rgba="0.5 0.5 0.5 1.0"/>
      </material>
    </visual>
    <collision>
      <origin rpy="0 0 0" xyz="0 0 0"/>
      <geometry>
        <mesh filename="package://engineer_description/meshes/roller.STL"/>
      </geometry>
    </collision>
    <inertial>
      <origin rpy="0 0 0" xyz="0 0 0"/>
      <mass value="0.008738"/>
      <inertia ixx="0.000001" ixy="0" ixz="0" iyy="0.000001" iyz="0" izz="0.000001"/>
    </inertial>
  </link>
  <joint name="roller_RF_14_joint" type="continuous">
    <parent link="wheel_RF"/>
    <child link="roller_RF_14_link"/>
    <origin rpy="0.7854 0 5.211189" xyz="0.03203077480474741 -0.05879953245434912 -0.0019"/>
    <axis xyz="0 0 1"/>
    <dynamics damping="0.0" friction="0.0"/>
  </joint>
  <link name="roller_RF_14_link">
    <visual>
      <origin rpy="0 0 0" xyz="0 0 0"/>
      <geometry>
        <mesh filename="package://engineer_description/meshes/roller.STL"/>
      </geometry>
      <material name="gray">
        <color rgba="0.5 0.5 0.5 1.0"/>
      </material>
    </visual>
    <collision>
      <origin rpy="0 0 0" xyz="0 0 0"/>
      <geometry>
        <mesh filename="package://engineer_description/meshes/roller.STL"/>
      </geometry>
    </collision>
    <inertial>
      <origin rpy="0 0 0" xyz="0 0 0"/>
      <mass value="0.008738"/>
      <inertia ixx="0.000001" ixy="0" ixz="0" iyy="0.000001" iyz="0" izz="0.000001"/>
    </inertial>
  </link>
  <joint name="roller_RF_15_joint" type="continuous">
    <parent link="wheel_RF"/>
    <child link="roller_RF_15_link"/>
    <origin rpy="0.7854 0 5.603888" xyz="0.052094180716935376 -0.04206604196824054 -0.0019"/>
    <axis xyz="0 0 1"/>
    <dynamics damping="0.0" friction="0.0"/>
  </joint>
  <link name="roller_RF_15_link">
    <visual>
      <origin rpy="0 0 0" xyz="0 0 0"/>
      <geometry>
        <mesh filename="package://engineer_description/meshes/roller.STL"/>
      </geometry>
      <material name="gray">
        <color rgba="0.5 0.5 0.5 1.0"/>
      </material>
    </visual>
    <collision>
      <origin rpy="0 0 0" xyz="0 0 0"/>
      <geometry>
        <mesh filename="package://engineer_description/meshes/roller.STL"/>
      </geometry>
    </collision>
    <inertial>
      <origin rpy="0 0 0" xyz="0 0 0"/>
      <mass value="0.008738"/>
      <inertia ixx="0.000001" ixy="0" ixz="0" iyy="0.000001" iyz="0" izz="0.000001"/>
    </inertial>
  </link>
  <joint name="roller_RF_16_joint" type="continuous">
    <parent link="wheel_RF"/>
    <child link="roller_RF_16_link"/>
    <origin rpy="0.7854 0 5.996587" xyz="0.06422672310731661 -0.01892838055245557 -0.0019"/>
    <axis xyz="0 0 1"/>
    <dynamics damping="0.0" friction="0.0"/>
  </joint>
  <link name="roller_RF_16_link">
    <visual>
      <origin rpy="0 0 0" xyz="0 0 0"/>
      <geometry>
        <mesh filename="package://engineer_description/meshes/roller.STL"/>
      </geometry>
      <material name="gray">
        <color rgba="0.5 0.5 0.5 1.0"/>
      </material>
    </visual>
    <collision>
      <origin rpy="0 0 0" xyz="0 0 0"/>
      <geometry>
        <mesh filename="package://engineer_description/meshes/roller.STL"/>
      </geometry>
    </collision>
    <inertial>
      <origin rpy="0 0 0" xyz="0 0 0"/>
      <mass value="0.008738"/>
      <inertia ixx="0.000001" ixy="0" ixz="0" iyy="0.000001" iyz="0" izz="0.000001"/>
    </inertial>
  </link>
  <joint name="RB_joint" type="continuous">
    <parent link="base_link"/>
    <child link="wheel_RB"/>
    <origin rpy="-1.5708 0 0" xyz="-0.20286 -0.2023 -0.012411"/>
    <axis xyz="0 0 1"/>
    <!-- <dynamics damping="3.0" friction="5.0"/> -->
  </joint>
  <link name="wheel_RB">
    <visual>
      <origin rpy="0 0 0" xyz="0 0 0"/>
      <geometry>
        <mesh filename="package://engineer_description/meshes/right-threaded_mecanum_wheel_wheel.STL"/>
      </geometry>
      <material name="white">
        <color rgba="1.0 1.0 1.0 1.0"/>
      </material>
    </visual>
    <collision>
      <origin rpy="0 0 0" xyz="0 0 0"/>
      <geometry>
        <mesh filename="package://engineer_description/meshes/right-threaded_mecanum_wheel_wheel.STL"/>
      </geometry>
    </collision>
    <inertial>
      <origin rpy="0 0 0" xyz="0 0 0"/>
      <mass value="0.007056"/>
      <inertia ixx="0.000017" ixy="0" ixz="0" iyy="0.000017" iyz="0" izz="0.000033"/>
    </inertial>
  </link>
  <joint name="roller_RB_1_joint" type="continuous">
    <parent link="wheel_RB"/>
    <child link="roller_RB_1_link"/>
    <origin rpy="-0.7854 0 0.106101" xyz="0.0665813309591685 0.007090974485087869 0.0019"/>
    <axis xyz="0 0 1"/>
    <dynamics damping="0.0" friction="0.0"/>
  </joint>
  <link name="roller_RB_1_link">
    <visual>
      <origin rpy="0 0 0" xyz="0 0 0"/>
      <geometry>
        <mesh filename="package://engineer_description/meshes/roller.STL"/>
      </geometry>
      <material name="gray">
        <color rgba="0.5 0.5 0.5 1.0"/>
      </material>
    </visual>
    <collision>
      <origin rpy="0 0 0" xyz="0 0 0"/>
      <geometry>
        <mesh filename="package://engineer_description/meshes/roller.STL"/>
      </geometry>
    </collision>
    <inertial>
      <origin rpy="0 0 0" xyz="0 0 0"/>
      <mass value="0.008738"/>
      <inertia ixx="0.000001" ixy="0" ixz="0" iyy="0.000001" iyz="0" izz="0.000001"/>
    </inertial>
  </link>
  <joint name="roller_RB_2_joint" type="continuous">
    <parent link="wheel_RB"/>
    <child link="roller_RB_2_link"/>
    <origin rpy="-0.7854 0 0.4988" xyz="0.05879953308264269 0.03203077365137633 0.0019"/>
    <axis xyz="0 0 1"/>
    <dynamics damping="0.0" friction="0.0"/>
  </joint>
  <link name="roller_RB_2_link">
    <visual>
      <origin rpy="0 0 0" xyz="0 0 0"/>
      <geometry>
        <mesh filename="package://engineer_description/meshes/roller.STL"/>
      </geometry>
      <material name="gray">
        <color rgba="0.5 0.5 0.5 1.0"/>
      </material>
    </visual>
    <collision>
      <origin rpy="0 0 0" xyz="0 0 0"/>
      <geometry>
        <mesh filename="package://engineer_description/meshes/roller.STL"/>
      </geometry>
    </collision>
    <inertial>
      <origin rpy="0 0 0" xyz="0 0 0"/>
      <mass value="0.008738"/>
      <inertia ixx="0.000001" ixy="0" ixz="0" iyy="0.000001" iyz="0" izz="0.000001"/>
    </inertial>
  </link>
  <joint name="roller_RB_3_joint" type="continuous">
    <parent link="wheel_RB"/>
    <child link="roller_RB_3_link"/>
    <origin rpy="-0.7854 0 0.891499" xyz="0.04206604299008407 0.0520941798917969 0.0019"/>
    <axis xyz="0 0 1"/>
    <dynamics damping="0.0" friction="0.0"/>
  </joint>
  <link name="roller_RB_3_link">
    <visual>
      <origin rpy="0 0 0" xyz="0 0 0"/>
      <geometry>
        <mesh filename="package://engineer_description/meshes/roller.STL"/>
      </geometry>
      <material name="gray">
        <color rgba="0.5 0.5 0.5 1.0"/>
      </material>
    </visual>
    <collision>
      <origin rpy="0 0 0" xyz="0 0 0"/>
      <geometry>
        <mesh filename="package://engineer_description/meshes/roller.STL"/>
      </geometry>
    </collision>
    <inertial>
      <origin rpy="0 0 0" xyz="0 0 0"/>
      <mass value="0.008738"/>
      <inertia ixx="0.000001" ixy="0" ixz="0" iyy="0.000001" iyz="0" izz="0.000001"/>
    </inertial>
  </link>
  <joint name="roller_RB_4_joint" type="continuous">
    <parent link="wheel_RB"/>
    <child link="roller_RB_4_link"/>
    <origin rpy="-0.7854 0 1.284198" xyz="0.018928381812282655 0.06422672273603056 0.0019"/>
    <axis xyz="0 0 1"/>
    <dynamics damping="0.0" friction="0.0"/>
  </joint>
  <link name="roller_RB_4_link">
    <visual>
      <origin rpy="0 0 0" xyz="0 0 0"/>
      <geometry>
        <mesh filename="package://engineer_description/meshes/roller.STL"/>
      </geometry>
      <material name="gray">
        <color rgba="0.5 0.5 0.5 1.0"/>
      </material>
    </visual>
    <collision>
      <origin rpy="0 0 0" xyz="0 0 0"/>
      <geometry>
        <mesh filename="package://engineer_description/meshes/roller.STL"/>
      </geometry>
    </collision>
    <inertial>
      <origin rpy="0 0 0" xyz="0 0 0"/>
      <mass value="0.008738"/>
      <inertia ixx="0.000001" ixy="0" ixz="0" iyy="0.000001" iyz="0" izz="0.000001"/>
    </inertial>
  </link>
  <joint name="roller_RB_5_joint" type="continuous">
    <parent link="wheel_RB"/>
    <child link="roller_RB_5_link"/>
    <origin rpy="-0.7854 0 1.676897" xyz="-0.007090952726648328 0.06658133327645922 0.0019"/>
    <axis xyz="0 0 1"/>
    <dynamics damping="0.0" friction="0.0"/>
  </joint>
  <link name="roller_RB_5_link">
    <visual>
      <origin rpy="0 0 0" xyz="0 0 0"/>
      <geometry>
        <mesh filename="package://engineer_description/meshes/roller.STL"/>
      </geometry>
      <material name="gray">
        <color rgba="0.5 0.5 0.5 1.0"/>
      </material>
    </visual>
    <collision>
      <origin rpy="0 0 0" xyz="0 0 0"/>
      <geometry>
        <mesh filename="package://engineer_description/meshes/roller.STL"/>
      </geometry>
    </collision>
    <inertial>
      <origin rpy="0 0 0" xyz="0 0 0"/>
      <mass value="0.008738"/>
      <inertia ixx="0.000001" ixy="0" ixz="0" iyy="0.000001" iyz="0" izz="0.000001"/>
    </inertial>
  </link>
  <joint name="roller_RB_6_joint" type="continuous">
    <parent link="wheel_RB"/>
    <child link="roller_RB_6_link"/>
    <origin rpy="-0.7854 0 2.069596" xyz="-0.032030754435987296 0.058799543550132914 0.0019"/>
    <axis xyz="0 0 1"/>
    <dynamics damping="0.0" friction="0.0"/>
  </joint>
  <link name="roller_RB_6_link">
    <visual>
      <origin rpy="0 0 0" xyz="0 0 0"/>
      <geometry>
        <mesh filename="package://engineer_description/meshes/roller.STL"/>
      </geometry>
      <material name="gray">
        <color rgba="0.5 0.5 0.5 1.0"/>
      </material>
    </visual>
    <collision>
      <origin rpy="0 0 0" xyz="0 0 0"/>
      <geometry>
        <mesh filename="package://engineer_description/meshes/roller.STL"/>
      </geometry>
    </collision>
    <inertial>
      <origin rpy="0 0 0" xyz="0 0 0"/>
      <mass value="0.008738"/>
      <inertia ixx="0.000001" ixy="0" ixz="0" iyy="0.000001" iyz="0" izz="0.000001"/>
    </inertial>
  </link>
  <joint name="roller_RB_7_joint" type="continuous">
    <parent link="wheel_RB"/>
    <child link="roller_RB_7_link"/>
    <origin rpy="-0.7854 0 2.462295" xyz="-0.05209416614482594 0.042066060014193954 0.0019"/>
    <axis xyz="0 0 1"/>
    <dynamics damping="0.0" friction="0.0"/>
  </joint>
  <link name="roller_RB_7_link">
    <visual>
      <origin rpy="0 0 0" xyz="0 0 0"/>
      <geometry>
        <mesh filename="package://engineer_description/meshes/roller.STL"/>
      </geometry>
      <material name="gray">
        <color rgba="0.5 0.5 0.5 1.0"/>
      </material>
    </visual>
    <collision>
      <origin rpy="0 0 0" xyz="0 0 0"/>
      <geometry>
        <mesh filename="package://engineer_description/meshes/roller.STL"/>
      </geometry>
    </collision>
    <inertial>
      <origin rpy="0 0 0" xyz="0 0 0"/>
      <mass value="0.008738"/>
      <inertia ixx="0.000001" ixy="0" ixz="0" iyy="0.000001" iyz="0" izz="0.000001"/>
    </inertial>
  </link>
  <joint name="roller_RB_8_joint" type="continuous">
    <parent link="wheel_RB"/>
    <child link="roller_RB_8_link"/>
    <origin rpy="-0.7854 0 2.854994" xyz="-0.06422671655032855 0.018928402801246857 0.0019"/>
    <axis xyz="0 0 1"/>
    <dynamics damping="0.0" friction="0.0"/>
  </joint>
  <link name="roller_RB_8_link">
    <visual>
      <origin rpy="0 0 0" xyz="0 0 0"/>
      <geometry>
        <mesh filename="package://engineer_description/meshes/roller.STL"/>
      </geometry>
      <material name="gray">
        <color rgba="0.5 0.5 0.5 1.0"/>
      </material>
    </visual>
    <collision>
      <origin rpy="0 0 0" xyz="0 0 0"/>
      <geometry>
        <mesh filename="package://engineer_description/meshes/roller.STL"/>
      </geometry>
    </collision>
    <inertial>
      <origin rpy="0 0 0" xyz="0 0 0"/>
      <mass value="0.008738"/>
      <inertia ixx="0.000001" ixy="0" ixz="0" iyy="0.000001" iyz="0" izz="0.000001"/>
    </inertial>
  </link>
  <joint name="roller_RB_9_joint" type="continuous">
    <parent link="wheel_RB"/>
    <child link="roller_RB_9_link"/>
    <origin rpy="-0.7854 0 3.247694" xyz="-0.06658132850277856 -0.007090997549540072 0.0019"/>
    <axis xyz="0 0 1"/>
    <dynamics damping="0.0" friction="0.0"/>
  </joint>
  <link name="roller_RB_9_link">
    <visual>
      <origin rpy="0 0 0" xyz="0 0 0"/>
      <geometry>
        <mesh filename="package://engineer_description/meshes/roller.STL"/>
      </geometry>
      <material name="gray">
        <color rgba="0.5 0.5 0.5 1.0"/>
      </material>
    </visual>
    <collision>
      <origin rpy="0 0 0" xyz="0 0 0"/>
      <geometry>
        <mesh filename="package://engineer_description/meshes/roller.STL"/>
      </geometry>
    </collision>
    <inertial>
      <origin rpy="0 0 0" xyz="0 0 0"/>
      <mass value="0.008738"/>
      <inertia ixx="0.000001" ixy="0" ixz="0" iyy="0.000001" iyz="0" izz="0.000001"/>
    </inertial>
  </link>
  <joint name="roller_RB_10_joint" type="continuous">
    <parent link="wheel_RB"/>
    <child link="roller_RB_10_link"/>
    <origin rpy="-0.7854 0 3.640393" xyz="-0.058799521986852246 -0.03203079402013282 0.0019"/>
    <axis xyz="0 0 1"/>
    <dynamics damping="0.0" friction="0.0"/>
  </joint>
  <link name="roller_RB_10_link">
    <visual>
      <origin rpy="0 0 0" xyz="0 0 0"/>
      <geometry>
        <mesh filename="package://engineer_description/meshes/roller.STL"/>
      </geometry>
      <material name="gray">
        <color rgba="0.5 0.5 0.5 1.0"/>
      </material>
    </visual>
    <collision>
      <origin rpy="0 0 0" xyz="0 0 0"/>
      <geometry>
        <mesh filename="package://engineer_description/meshes/roller.STL"/>
      </geometry>
    </collision>
    <inertial>
      <origin rpy="0 0 0" xyz="0 0 0"/>
      <mass value="0.008738"/>
      <inertia ixx="0.000001" ixy="0" ixz="0" iyy="0.000001" iyz="0" izz="0.000001"/>
    </inertial>
  </link>
  <joint name="roller_RB_11_joint" type="continuous">
    <parent link="wheel_RB"/>
    <child link="roller_RB_11_link"/>
    <origin rpy="-0.7854 0 4.033092" xyz="-0.04206602494412593 -0.052094194463900415 0.0019"/>
    <axis xyz="0 0 1"/>
    <dynamics damping="0.0" friction="0.0"/>
  </joint>
  <link name="roller_RB_11_link">
    <visual>
      <origin rpy="0 0 0" xyz="0 0 0"/>
      <geometry>
        <mesh filename="package://engineer_description/meshes/roller.STL"/>
      </geometry>
      <material name="gray">
        <color rgba="0.5 0.5 0.5 1.0"/>
      </material>
    </visual>
    <collision>
      <origin rpy="0 0 0" xyz="0 0 0"/>
      <geometry>
        <mesh filename="package://engineer_description/meshes/roller.STL"/>
      </geometry>
    </collision>
    <inertial>
      <origin rpy="0 0 0" xyz="0 0 0"/>
      <mass value="0.008738"/>
      <inertia ixx="0.000001" ixy="0" ixz="0" iyy="0.000001" iyz="0" izz="0.000001"/>
    </inertial>
  </link>
  <joint name="roller_RB_12_joint" type="continuous">
    <parent link="wheel_RB"/>
    <child link="roller_RB_12_link"/>
    <origin rpy="-0.7854 0 4.425791" xyz="-0.0189283595634892 -0.06422672929301136 0.0019"/>
    <axis xyz="0 0 1"/>
    <dynamics damping="0.0" friction="0.0"/>
  </joint>
  <link name="roller_RB_12_link">
    <visual>
      <origin rpy="0 0 0" xyz="0 0 0"/>
      <geometry>
        <mesh filename="package://engineer_description/meshes/roller.STL"/>
      </geometry>
      <material name="gray">
        <color rgba="0.5 0.5 0.5 1.0"/>
      </material>
    </visual>
    <collision>
      <origin rpy="0 0 0" xyz="0 0 0"/>
      <geometry>
        <mesh filename="package://engineer_description/meshes/roller.STL"/>
      </geometry>
    </collision>
    <inertial>
      <origin rpy="0 0 0" xyz="0 0 0"/>
      <mass value="0.008738"/>
      <inertia ixx="0.000001" ixy="0" ixz="0" iyy="0.000001" iyz="0" izz="0.000001"/>
    </inertial>
  </link>
  <joint name="roller_RB_13_joint" type="continuous">
    <parent link="wheel_RB"/>
    <child link="roller_RB_13_link"/>
    <origin rpy="-0.7854 0 4.81849" xyz="0.007090975791101305 -0.06658133082007683 0.0019"/>
    <axis xyz="0 0 1"/>
    <dynamics damping="0.0" friction="0.0"/>
  </joint>
  <link name="roller_RB_13_link">
    <visual>
      <origin rpy="0 0 0" xyz="0 0 0"/>
      <geometry>
        <mesh filename="package://engineer_description/meshes/roller.STL"/>
      </geometry>
      <material name="gray">
        <color rgba="0.5 0.5 0.5 1.0"/>
      </material>
    </visual>
    <collision>
      <origin rpy="0 0 0" xyz="0 0 0"/>
      <geometry>
        <mesh filename="package://engineer_description/meshes/roller.STL"/>
      </geometry>
    </collision>
    <inertial>
      <origin rpy="0 0 0" xyz="0 0 0"/>
      <mass value="0.008738"/>
      <inertia ixx="0.000001" ixy="0" ixz="0" iyy="0.000001" iyz="0" izz="0.000001"/>
    </inertial>
  </link>
  <joint name="roller_RB_14_joint" type="continuous">
    <parent link="wheel_RB"/>
    <child link="roller_RB_14_link"/>
    <origin rpy="-0.7854 0 5.211189" xyz="0.03203077480474741 -0.05879953245434912 0.0019"/>
    <axis xyz="0 0 1"/>
    <dynamics damping="0.0" friction="0.0"/>
  </joint>
  <link name="roller_RB_14_link">
    <visual>
      <origin rpy="0 0 0" xyz="0 0 0"/>
      <geometry>
        <mesh filename="package://engineer_description/meshes/roller.STL"/>
      </geometry>
      <material name="gray">
        <color rgba="0.5 0.5 0.5 1.0"/>
      </material>
    </visual>
    <collision>
      <origin rpy="0 0 0" xyz="0 0 0"/>
      <geometry>
        <mesh filename="package://engineer_description/meshes/roller.STL"/>
      </geometry>
    </collision>
    <inertial>
      <origin rpy="0 0 0" xyz="0 0 0"/>
      <mass value="0.008738"/>
      <inertia ixx="0.000001" ixy="0" ixz="0" iyy="0.000001" iyz="0" izz="0.000001"/>
    </inertial>
  </link>
  <joint name="roller_RB_15_joint" type="continuous">
    <parent link="wheel_RB"/>
    <child link="roller_RB_15_link"/>
    <origin rpy="-0.7854 0 5.603888" xyz="0.052094180716935376 -0.04206604196824054 0.0019"/>
    <axis xyz="0 0 1"/>
    <dynamics damping="0.0" friction="0.0"/>
  </joint>
  <link name="roller_RB_15_link">
    <visual>
      <origin rpy="0 0 0" xyz="0 0 0"/>
      <geometry>
        <mesh filename="package://engineer_description/meshes/roller.STL"/>
      </geometry>
      <material name="gray">
        <color rgba="0.5 0.5 0.5 1.0"/>
      </material>
    </visual>
    <collision>
      <origin rpy="0 0 0" xyz="0 0 0"/>
      <geometry>
        <mesh filename="package://engineer_description/meshes/roller.STL"/>
      </geometry>
    </collision>
    <inertial>
      <origin rpy="0 0 0" xyz="0 0 0"/>
      <mass value="0.008738"/>
      <inertia ixx="0.000001" ixy="0" ixz="0" iyy="0.000001" iyz="0" izz="0.000001"/>
    </inertial>
  </link>
  <joint name="roller_RB_16_joint" type="continuous">
    <parent link="wheel_RB"/>
    <child link="roller_RB_16_link"/>
    <origin rpy="-0.7854 0 5.996587" xyz="0.06422672310731661 -0.01892838055245557 0.0019"/>
    <axis xyz="0 0 1"/>
    <dynamics damping="0.0" friction="0.0"/>
  </joint>
  <link name="roller_RB_16_link">
    <visual>
      <origin rpy="0 0 0" xyz="0 0 0"/>
      <geometry>
        <mesh filename="package://engineer_description/meshes/roller.STL"/>
      </geometry>
      <material name="gray">
        <color rgba="0.5 0.5 0.5 1.0"/>
      </material>
    </visual>
    <collision>
      <origin rpy="0 0 0" xyz="0 0 0"/>
      <geometry>
        <mesh filename="package://engineer_description/meshes/roller.STL"/>
      </geometry>
    </collision>
    <inertial>
      <origin rpy="0 0 0" xyz="0 0 0"/>
      <mass value="0.008738"/>
      <inertia ixx="0.000001" ixy="0" ixz="0" iyy="0.000001" iyz="0" izz="0.000001"/>
    </inertial>
  </link>
  <joint name="LB_joint" type="continuous">
    <parent link="base_link"/>
    <child link="wheel_LB"/>
    <origin rpy="-1.5708 0 0" xyz="-0.20286 0.2023 -0.012411"/>
    <axis xyz="0 0 1"/>
    <!-- <dynamics damping="3.0" friction="5.0"/> -->
  </joint>
  <link name="wheel_LB">
    <visual>
      <origin rpy="0 0 0" xyz="0 0 0"/>
      <geometry>
        <mesh filename="package://engineer_description/meshes/left-threaded_mecanum_wheel_wheel.STL"/>
      </geometry>
      <material name="white">
        <color rgba="1.0 1.0 1.0 1.0"/>
      </material>
    </visual>
    <collision>
      <origin rpy="0 0 0" xyz="0 0 0"/>
      <geometry>
        <mesh filename="package://engineer_description/meshes/left-threaded_mecanum_wheel_wheel.STL"/>
      </geometry>
    </collision>
    <inertial>
      <origin rpy="0 0 0" xyz="0 0 0"/>
      <mass value="0.007056"/>
      <inertia ixx="0.000017" ixy="0" ixz="0" iyy="0.000017" iyz="0" izz="0.000033"/>
    </inertial>
  </link>
  <joint name="roller_LB_1_joint" type="continuous">
    <parent link="wheel_LB"/>
    <child link="roller_LB_1_link"/>
    <origin rpy="0.7854 0 0.106101" xyz="0.0665813309591685 0.007090974485087869 -0.0019"/>
    <axis xyz="0 0 1"/>
    <dynamics damping="0.0" friction="0.0"/>
  </joint>
  <link name="roller_LB_1_link">
    <visual>
      <origin rpy="0 0 0" xyz="0 0 0"/>
      <geometry>
        <mesh filename="package://engineer_description/meshes/roller.STL"/>
      </geometry>
      <material name="gray">
        <color rgba="0.5 0.5 0.5 1.0"/>
      </material>
    </visual>
    <collision>
      <origin rpy="0 0 0" xyz="0 0 0"/>
      <geometry>
        <mesh filename="package://engineer_description/meshes/roller.STL"/>
      </geometry>
    </collision>
    <inertial>
      <origin rpy="0 0 0" xyz="0 0 0"/>
      <mass value="0.008738"/>
      <inertia ixx="0.000001" ixy="0" ixz="0" iyy="0.000001" iyz="0" izz="0.000001"/>
    </inertial>
  </link>
  <joint name="roller_LB_2_joint" type="continuous">
    <parent link="wheel_LB"/>
    <child link="roller_LB_2_link"/>
    <origin rpy="0.7854 0 0.4988" xyz="0.05879953308264269 0.03203077365137633 -0.0019"/>
    <axis xyz="0 0 1"/>
    <dynamics damping="0.0" friction="0.0"/>
  </joint>
  <link name="roller_LB_2_link">
    <visual>
      <origin rpy="0 0 0" xyz="0 0 0"/>
      <geometry>
        <mesh filename="package://engineer_description/meshes/roller.STL"/>
      </geometry>
      <material name="gray">
        <color rgba="0.5 0.5 0.5 1.0"/>
      </material>
    </visual>
    <collision>
      <origin rpy="0 0 0" xyz="0 0 0"/>
      <geometry>
        <mesh filename="package://engineer_description/meshes/roller.STL"/>
      </geometry>
    </collision>
    <inertial>
      <origin rpy="0 0 0" xyz="0 0 0"/>
      <mass value="0.008738"/>
      <inertia ixx="0.000001" ixy="0" ixz="0" iyy="0.000001" iyz="0" izz="0.000001"/>
    </inertial>
  </link>
  <joint name="roller_LB_3_joint" type="continuous">
    <parent link="wheel_LB"/>
    <child link="roller_LB_3_link"/>
    <origin rpy="0.7854 0 0.891499" xyz="0.04206604299008407 0.0520941798917969 -0.0019"/>
    <axis xyz="0 0 1"/>
    <dynamics damping="0.0" friction="0.0"/>
  </joint>
  <link name="roller_LB_3_link">
    <visual>
      <origin rpy="0 0 0" xyz="0 0 0"/>
      <geometry>
        <mesh filename="package://engineer_description/meshes/roller.STL"/>
      </geometry>
      <material name="gray">
        <color rgba="0.5 0.5 0.5 1.0"/>
      </material>
    </visual>
    <collision>
      <origin rpy="0 0 0" xyz="0 0 0"/>
      <geometry>
        <mesh filename="package://engineer_description/meshes/roller.STL"/>
      </geometry>
    </collision>
    <inertial>
      <origin rpy="0 0 0" xyz="0 0 0"/>
      <mass value="0.008738"/>
      <inertia ixx="0.000001" ixy="0" ixz="0" iyy="0.000001" iyz="0" izz="0.000001"/>
    </inertial>
  </link>
  <joint name="roller_LB_4_joint" type="continuous">
    <parent link="wheel_LB"/>
    <child link="roller_LB_4_link"/>
    <origin rpy="0.7854 0 1.284198" xyz="0.018928381812282655 0.06422672273603056 -0.0019"/>
    <axis xyz="0 0 1"/>
    <dynamics damping="0.0" friction="0.0"/>
  </joint>
  <link name="roller_LB_4_link">
    <visual>
      <origin rpy="0 0 0" xyz="0 0 0"/>
      <geometry>
        <mesh filename="package://engineer_description/meshes/roller.STL"/>
      </geometry>
      <material name="gray">
        <color rgba="0.5 0.5 0.5 1.0"/>
      </material>
    </visual>
    <collision>
      <origin rpy="0 0 0" xyz="0 0 0"/>
      <geometry>
        <mesh filename="package://engineer_description/meshes/roller.STL"/>
      </geometry>
    </collision>
    <inertial>
      <origin rpy="0 0 0" xyz="0 0 0"/>
      <mass value="0.008738"/>
      <inertia ixx="0.000001" ixy="0" ixz="0" iyy="0.000001" iyz="0" izz="0.000001"/>
    </inertial>
  </link>
  <joint name="roller_LB_5_joint" type="continuous">
    <parent link="wheel_LB"/>
    <child link="roller_LB_5_link"/>
    <origin rpy="0.7854 0 1.676897" xyz="-0.007090952726648328 0.06658133327645922 -0.0019"/>
    <axis xyz="0 0 1"/>
    <dynamics damping="0.0" friction="0.0"/>
  </joint>
  <link name="roller_LB_5_link">
    <visual>
      <origin rpy="0 0 0" xyz="0 0 0"/>
      <geometry>
        <mesh filename="package://engineer_description/meshes/roller.STL"/>
      </geometry>
      <material name="gray">
        <color rgba="0.5 0.5 0.5 1.0"/>
      </material>
    </visual>
    <collision>
      <origin rpy="0 0 0" xyz="0 0 0"/>
      <geometry>
        <mesh filename="package://engineer_description/meshes/roller.STL"/>
      </geometry>
    </collision>
    <inertial>
      <origin rpy="0 0 0" xyz="0 0 0"/>
      <mass value="0.008738"/>
      <inertia ixx="0.000001" ixy="0" ixz="0" iyy="0.000001" iyz="0" izz="0.000001"/>
    </inertial>
  </link>
  <joint name="roller_LB_6_joint" type="continuous">
    <parent link="wheel_LB"/>
    <child link="roller_LB_6_link"/>
    <origin rpy="0.7854 0 2.069596" xyz="-0.032030754435987296 0.058799543550132914 -0.0019"/>
    <axis xyz="0 0 1"/>
    <dynamics damping="0.0" friction="0.0"/>
  </joint>
  <link name="roller_LB_6_link">
    <visual>
      <origin rpy="0 0 0" xyz="0 0 0"/>
      <geometry>
        <mesh filename="package://engineer_description/meshes/roller.STL"/>
      </geometry>
      <material name="gray">
        <color rgba="0.5 0.5 0.5 1.0"/>
      </material>
    </visual>
    <collision>
      <origin rpy="0 0 0" xyz="0 0 0"/>
      <geometry>
        <mesh filename="package://engineer_description/meshes/roller.STL"/>
      </geometry>
    </collision>
    <inertial>
      <origin rpy="0 0 0" xyz="0 0 0"/>
      <mass value="0.008738"/>
      <inertia ixx="0.000001" ixy="0" ixz="0" iyy="0.000001" iyz="0" izz="0.000001"/>
    </inertial>
  </link>
  <joint name="roller_LB_7_joint" type="continuous">
    <parent link="wheel_LB"/>
    <child link="roller_LB_7_link"/>
    <origin rpy="0.7854 0 2.462295" xyz="-0.05209416614482594 0.042066060014193954 -0.0019"/>
    <axis xyz="0 0 1"/>
    <dynamics damping="0.0" friction="0.0"/>
  </joint>
  <link name="roller_LB_7_link">
    <visual>
      <origin rpy="0 0 0" xyz="0 0 0"/>
      <geometry>
        <mesh filename="package://engineer_description/meshes/roller.STL"/>
      </geometry>
      <material name="gray">
        <color rgba="0.5 0.5 0.5 1.0"/>
      </material>
    </visual>
    <collision>
      <origin rpy="0 0 0" xyz="0 0 0"/>
      <geometry>
        <mesh filename="package://engineer_description/meshes/roller.STL"/>
      </geometry>
    </collision>
    <inertial>
      <origin rpy="0 0 0" xyz="0 0 0"/>
      <mass value="0.008738"/>
      <inertia ixx="0.000001" ixy="0" ixz="0" iyy="0.000001" iyz="0" izz="0.000001"/>
    </inertial>
  </link>
  <joint name="roller_LB_8_joint" type="continuous">
    <parent link="wheel_LB"/>
    <child link="roller_LB_8_link"/>
    <origin rpy="0.7854 0 2.854994" xyz="-0.06422671655032855 0.018928402801246857 -0.0019"/>
    <axis xyz="0 0 1"/>
    <dynamics damping="0.0" friction="0.0"/>
  </joint>
  <link name="roller_LB_8_link">
    <visual>
      <origin rpy="0 0 0" xyz="0 0 0"/>
      <geometry>
        <mesh filename="package://engineer_description/meshes/roller.STL"/>
      </geometry>
      <material name="gray">
        <color rgba="0.5 0.5 0.5 1.0"/>
      </material>
    </visual>
    <collision>
      <origin rpy="0 0 0" xyz="0 0 0"/>
      <geometry>
        <mesh filename="package://engineer_description/meshes/roller.STL"/>
      </geometry>
    </collision>
    <inertial>
      <origin rpy="0 0 0" xyz="0 0 0"/>
      <mass value="0.008738"/>
      <inertia ixx="0.000001" ixy="0" ixz="0" iyy="0.000001" iyz="0" izz="0.000001"/>
    </inertial>
  </link>
  <joint name="roller_LB_9_joint" type="continuous">
    <parent link="wheel_LB"/>
    <child link="roller_LB_9_link"/>
    <origin rpy="0.7854 0 3.247694" xyz="-0.06658132850277856 -0.007090997549540072 -0.0019"/>
    <axis xyz="0 0 1"/>
    <dynamics damping="0.0" friction="0.0"/>
  </joint>
  <link name="roller_LB_9_link">
    <visual>
      <origin rpy="0 0 0" xyz="0 0 0"/>
      <geometry>
        <mesh filename="package://engineer_description/meshes/roller.STL"/>
      </geometry>
      <material name="gray">
        <color rgba="0.5 0.5 0.5 1.0"/>
      </material>
    </visual>
    <collision>
      <origin rpy="0 0 0" xyz="0 0 0"/>
      <geometry>
        <mesh filename="package://engineer_description/meshes/roller.STL"/>
      </geometry>
    </collision>
    <inertial>
      <origin rpy="0 0 0" xyz="0 0 0"/>
      <mass value="0.008738"/>
      <inertia ixx="0.000001" ixy="0" ixz="0" iyy="0.000001" iyz="0" izz="0.000001"/>
    </inertial>
  </link>
  <joint name="roller_LB_10_joint" type="continuous">
    <parent link="wheel_LB"/>
    <child link="roller_LB_10_link"/>
    <origin rpy="0.7854 0 3.640393" xyz="-0.058799521986852246 -0.03203079402013282 -0.0019"/>
    <axis xyz="0 0 1"/>
    <dynamics damping="0.0" friction="0.0"/>
  </joint>
  <link name="roller_LB_10_link">
    <visual>
      <origin rpy="0 0 0" xyz="0 0 0"/>
      <geometry>
        <mesh filename="package://engineer_description/meshes/roller.STL"/>
      </geometry>
      <material name="gray">
        <color rgba="0.5 0.5 0.5 1.0"/>
      </material>
    </visual>
    <collision>
      <origin rpy="0 0 0" xyz="0 0 0"/>
      <geometry>
        <mesh filename="package://engineer_description/meshes/roller.STL"/>
      </geometry>
    </collision>
    <inertial>
      <origin rpy="0 0 0" xyz="0 0 0"/>
      <mass value="0.008738"/>
      <inertia ixx="0.000001" ixy="0" ixz="0" iyy="0.000001" iyz="0" izz="0.000001"/>
    </inertial>
  </link>
  <joint name="roller_LB_11_joint" type="continuous">
    <parent link="wheel_LB"/>
    <child link="roller_LB_11_link"/>
    <origin rpy="0.7854 0 4.033092" xyz="-0.04206602494412593 -0.052094194463900415 -0.0019"/>
    <axis xyz="0 0 1"/>
    <dynamics damping="0.0" friction="0.0"/>
  </joint>
  <link name="roller_LB_11_link">
    <visual>
      <origin rpy="0 0 0" xyz="0 0 0"/>
      <geometry>
        <mesh filename="package://engineer_description/meshes/roller.STL"/>
      </geometry>
      <material name="gray">
        <color rgba="0.5 0.5 0.5 1.0"/>
      </material>
    </visual>
    <collision>
      <origin rpy="0 0 0" xyz="0 0 0"/>
      <geometry>
        <mesh filename="package://engineer_description/meshes/roller.STL"/>
      </geometry>
    </collision>
    <inertial>
      <origin rpy="0 0 0" xyz="0 0 0"/>
      <mass value="0.008738"/>
      <inertia ixx="0.000001" ixy="0" ixz="0" iyy="0.000001" iyz="0" izz="0.000001"/>
    </inertial>
  </link>
  <joint name="roller_LB_12_joint" type="continuous">
    <parent link="wheel_LB"/>
    <child link="roller_LB_12_link"/>
    <origin rpy="0.7854 0 4.425791" xyz="-0.0189283595634892 -0.06422672929301136 -0.0019"/>
    <axis xyz="0 0 1"/>
    <dynamics damping="0.0" friction="0.0"/>
  </joint>
  <link name="roller_LB_12_link">
    <visual>
      <origin rpy="0 0 0" xyz="0 0 0"/>
      <geometry>
        <mesh filename="package://engineer_description/meshes/roller.STL"/>
      </geometry>
      <material name="gray">
        <color rgba="0.5 0.5 0.5 1.0"/>
      </material>
    </visual>
    <collision>
      <origin rpy="0 0 0" xyz="0 0 0"/>
      <geometry>
        <mesh filename="package://engineer_description/meshes/roller.STL"/>
      </geometry>
    </collision>
    <inertial>
      <origin rpy="0 0 0" xyz="0 0 0"/>
      <mass value="0.008738"/>
      <inertia ixx="0.000001" ixy="0" ixz="0" iyy="0.000001" iyz="0" izz="0.000001"/>
    </inertial>
  </link>
  <joint name="roller_LB_13_joint" type="continuous">
    <parent link="wheel_LB"/>
    <child link="roller_LB_13_link"/>
    <origin rpy="0.7854 0 4.81849" xyz="0.007090975791101305 -0.06658133082007683 -0.0019"/>
    <axis xyz="0 0 1"/>
    <dynamics damping="0.0" friction="0.0"/>
  </joint>
  <link name="roller_LB_13_link">
    <visual>
      <origin rpy="0 0 0" xyz="0 0 0"/>
      <geometry>
        <mesh filename="package://engineer_description/meshes/roller.STL"/>
      </geometry>
      <material name="gray">
        <color rgba="0.5 0.5 0.5 1.0"/>
      </material>
    </visual>
    <collision>
      <origin rpy="0 0 0" xyz="0 0 0"/>
      <geometry>
        <mesh filename="package://engineer_description/meshes/roller.STL"/>
      </geometry>
    </collision>
    <inertial>
      <origin rpy="0 0 0" xyz="0 0 0"/>
      <mass value="0.008738"/>
      <inertia ixx="0.000001" ixy="0" ixz="0" iyy="0.000001" iyz="0" izz="0.000001"/>
    </inertial>
  </link>
  <joint name="roller_LB_14_joint" type="continuous">
    <parent link="wheel_LB"/>
    <child link="roller_LB_14_link"/>
    <origin rpy="0.7854 0 5.211189" xyz="0.03203077480474741 -0.05879953245434912 -0.0019"/>
    <axis xyz="0 0 1"/>
    <dynamics damping="0.0" friction="0.0"/>
  </joint>
  <link name="roller_LB_14_link">
    <visual>
      <origin rpy="0 0 0" xyz="0 0 0"/>
      <geometry>
        <mesh filename="package://engineer_description/meshes/roller.STL"/>
      </geometry>
      <material name="gray">
        <color rgba="0.5 0.5 0.5 1.0"/>
      </material>
    </visual>
    <collision>
      <origin rpy="0 0 0" xyz="0 0 0"/>
      <geometry>
        <mesh filename="package://engineer_description/meshes/roller.STL"/>
      </geometry>
    </collision>
    <inertial>
      <origin rpy="0 0 0" xyz="0 0 0"/>
      <mass value="0.008738"/>
      <inertia ixx="0.000001" ixy="0" ixz="0" iyy="0.000001" iyz="0" izz="0.000001"/>
    </inertial>
  </link>
  <joint name="roller_LB_15_joint" type="continuous">
    <parent link="wheel_LB"/>
    <child link="roller_LB_15_link"/>
    <origin rpy="0.7854 0 5.603888" xyz="0.052094180716935376 -0.04206604196824054 -0.0019"/>
    <axis xyz="0 0 1"/>
    <dynamics damping="0.0" friction="0.0"/>
  </joint>
  <link name="roller_LB_15_link">
    <visual>
      <origin rpy="0 0 0" xyz="0 0 0"/>
      <geometry>
        <mesh filename="package://engineer_description/meshes/roller.STL"/>
      </geometry>
      <material name="gray">
        <color rgba="0.5 0.5 0.5 1.0"/>
      </material>
    </visual>
    <collision>
      <origin rpy="0 0 0" xyz="0 0 0"/>
      <geometry>
        <mesh filename="package://engineer_description/meshes/roller.STL"/>
      </geometry>
    </collision>
    <inertial>
      <origin rpy="0 0 0" xyz="0 0 0"/>
      <mass value="0.008738"/>
      <inertia ixx="0.000001" ixy="0" ixz="0" iyy="0.000001" iyz="0" izz="0.000001"/>
    </inertial>
  </link>
  <joint name="roller_LB_16_joint" type="continuous">
    <parent link="wheel_LB"/>
    <child link="roller_LB_16_link"/>
    <origin rpy="0.7854 0 5.996587" xyz="0.06422672310731661 -0.01892838055245557 -0.0019"/>
    <axis xyz="0 0 1"/>
    <dynamics damping="0.0" friction="0.0"/>
  </joint>
  <link name="roller_LB_16_link">
    <visual>
      <origin rpy="0 0 0" xyz="0 0 0"/>
      <geometry>
        <mesh filename="package://engineer_description/meshes/roller.STL"/>
      </geometry>
      <material name="gray">
        <color rgba="0.5 0.5 0.5 1.0"/>
      </material>
    </visual>
    <collision>
      <origin rpy="0 0 0" xyz="0 0 0"/>
      <geometry>
        <mesh filename="package://engineer_description/meshes/roller.STL"/>
      </geometry>
    </collision>
    <inertial>
      <origin rpy="0 0 0" xyz="0 0 0"/>
      <mass value="0.008738"/>
      <inertia ixx="0.000001" ixy="0" ixz="0" iyy="0.000001" iyz="0" izz="0.000001"/>
    </inertial>
  </link>
  <joint name="link1_joint" type="revolute">
    <parent link="base_link"/>
    <child link="link1"/>
    <origin rpy="0 0 0" xyz="0 0 0.0715"/>
    <axis xyz="0 0 1"/>
    <limit effort="0" lower="-0.7854" upper="0.7854" velocity="0"/>
  </joint>
  <link name="link1">
    <visual>
      <origin rpy="0 0 0" xyz="0 0 0"/>
      <geometry>
        <mesh filename="package://engineer_description/meshes/link1.STL"/>
      </geometry>
      <material name="white">
        <color rgba="1.0 1.0 1.0 1.0"/>
      </material>
    </visual>
    <collision>
      <origin rpy="0 0 0" xyz="0 0 0"/>
      <geometry>
        <mesh filename="package://engineer_description/meshes/link1.STL"/>
      </geometry>
    </collision>
    <inertial>
      <origin rpy="0 0 0" xyz="-0.000941 0.005367 0.0733"/>
      <mass value="1.17054"/>
      <inertia ixx="0.005224" ixy="1e-06" ixz="3.6e-05" iyy="0.005534" iyz="-0.000205" izz="0.004345"/>
    </inertial>
  </link>
  <joint name="link2_joint" type="revolute">
    <parent link="link1"/>
    <child link="link2"/>
    <origin rpy="-1.5708 -1.0472 0" xyz="0 0 0.118"/>
    <axis xyz="0 0 1"/>
    <limit effort="0" lower="1e-06" upper="2.0944" velocity="0"/>
  </joint>
  <link name="link2">
    <visual>
      <origin rpy="0 0 0" xyz="0 0 0"/>
      <geometry>
        <mesh filename="package://engineer_description/meshes/link2.STL"/>
      </geometry>
      <material name="white">
        <color rgba="1.0 1.0 1.0 1.0"/>
      </material>
    </visual>
    <collision>
      <origin rpy="0 0 0" xyz="0 0 0"/>
      <geometry>
        <mesh filename="package://engineer_description/meshes/link2.STL"/>
      </geometry>
    </collision>
    <inertial>
      <origin rpy="0 0 0" xyz="0.001243 -0.205517 -0.004229"/>
      <mass value="1.37833"/>
      <inertia ixx="0.026143" ixy="-0.00183" ixz="0.000127" iyy="0.002503" iyz="5e-05" izz="0.02504"/>
    </inertial>
  </link>
  <joint name="link3_joint" type="revolute">
    <parent link="link2"/>
    <child link="link3"/>
    <origin rpy="0 0 1.0472" xyz="0 -0.36 0"/>
    <axis xyz="0 0 1"/>
    <limit effort="0" lower="-2.618" upper="1e-06" velocity="0"/>
  </joint>
  <link name="link3">
    <visual>
      <origin rpy="0 0 0" xyz="0 0 0"/>
      <geometry>
        <mesh filename="package://engineer_description/meshes/link3.STL"/>
      </geometry>
      <material name="white">
        <color rgba="1.0 1.0 1.0 1.0"/>
      </material>
    </visual>
    <collision>
      <origin rpy="0 0 0" xyz="0 0 0"/>
      <geometry>
        <mesh filename="package://engineer_description/meshes/link3.STL"/>
      </geometry>
    </collision>
    <inertial>
      <origin rpy="0 0 0" xyz="0.124814 -0.008956 -0.000451"/>
      <mass value="1.58588"/>
      <inertia ixx="0.001743" ixy="5e-06" ixz="-9.8e-05" iyy="0.0044" iyz="1.8e-05" izz="0.004198"/>
    </inertial>
  </link>
  <joint name="link4_joint" type="revolute">
    <parent link="link3"/>
    <child link="link4"/>
    <origin rpy="1.5708 0 0" xyz="0.152 -0.003 0"/>
    <axis xyz="0 0 1"/>
    <limit effort="0" lower="-0.5" upper="0.5" velocity="0"/>
  </joint>
  <link name="link4">
    <visual>
      <origin rpy="0 0 0" xyz="0 0 0"/>
      <geometry>
        <mesh filename="package://engineer_description/meshes/link4.STL"/>
      </geometry>
      <material name="white">
        <color rgba="1.0 1.0 1.0 1.0"/>
      </material>
    </visual>
    <collision>
      <origin rpy="0 0 0" xyz="0 0 0"/>
      <geometry>
        <mesh filename="package://engineer_description/meshes/link4.STL"/>
      </geometry>
    </collision>
    <inertial>
      <origin rpy="0 0 0" xyz="0.036944 -0.000149 0.001115"/>
      <mass value="0.139812"/>
      <inertia ixx="0.000232" ixy="0" ixz="7e-06" iyy="0.000195" iyz="0" izz="0.000157"/>
    </inertial>
  </link>
  <joint name="link5_joint" type="revolute">
    <parent link="link4"/>
    <child link="link5"/>
    <origin rpy="0 1.5708 0" xyz="0.0756 0 0"/>
    <axis xyz="0 0 1"/>
    <limit effort="0" lower="-1.5709" upper="1.5709" velocity="0"/>
  </joint>
  <link name="link5">
    <visual>
      <origin rpy="0 0 0" xyz="0 0 0"/>
      <geometry>
        <mesh filename="package://engineer_description/meshes/link5.STL"/>
      </geometry>
      <material name="white">
        <color rgba="1.0 1.0 1.0 1.0"/>
      </material>
    </visual>
    <collision>
      <origin rpy="0 0 0" xyz="0 0 0"/>
      <geometry>
        <mesh filename="package://engineer_description/meshes/link5.STL"/>
      </geometry>
    </collision>
    <inertial>
      <origin rpy="0 0 0" xyz="6e-06 1.1e-05 0.037589"/>
      <mass value="0.528241"/>
      <inertia ixx="0.001034" ixy="9e-06" ixz="-1e-06" iyy="0.000977" iyz="-1e-06" izz="0.000568"/>
    </inertial>
  </link>
  <joint name="link6_joint" type="revolute">
    <parent link="link5"/>
    <child link="link6"/>
    <origin rpy="-1.6081 -1.5708 0.037258" xyz="0 0 0.1614"/>
    <axis xyz="0 0 1"/>
    <limit effort="0" lower="-1.8" upper="1.8" velocity="0"/>
  </joint>
  <link name="link6">
    <visual>
      <origin rpy="0 0 0" xyz="0 0 0"/>
      <geometry>
        <mesh filename="package://engineer_description/meshes/link6.STL"/>
      </geometry>
      <material name="white">
        <color rgba="1.0 1.0 1.0 1.0"/>
      </material>
    </visual>
    <collision>
      <origin rpy="0 0 0" xyz="0 0 0"/>
      <geometry>
        <mesh filename="package://engineer_description/meshes/link6.STL"/>
      </geometry>
    </collision>
    <inertial>
      <origin rpy="0 0 0" xyz="0.005373 -0.001981 2e-06"/>
      <mass value="0.159991"/>
      <inertia ixx="0.000102" ixy="-3e-06" ixz="0" iyy="0.000146" iyz="0" izz="8e-05"/>
    </inertial>
  </link>
  <joint name="link7_joint" type="revolute">
    <parent link="link6"/>
    <child link="link7"/>
    <origin rpy="1.5708 0 1.5708" xyz="0.04955 0 0"/>
    <axis xyz="0 0 1"/>
    <limit effort="0" lower="-6.28" upper="6.28" velocity="0"/>
  </joint>
  <link name="link7">
    <visual>
      <origin rpy="0 0 0" xyz="0 0 0"/>
      <geometry>
        <mesh filename="package://engineer_description/meshes/link7.STL"/>
      </geometry>
      <material name="white">
        <color rgba="1.0 1.0 1.0 1.0"/>
      </material>
    </visual>
    <collision>
      <origin rpy="0 0 0" xyz="0 0 0"/>
      <geometry>
        <mesh filename="package://engineer_description/meshes/link7.STL"/>
      </geometry>
    </collision>
    <inertial>
      <origin rpy="0 0 0" xyz="0 0 0.006021"/>
      <mass value="0.007071"/>
      <inertia ixx="1e-06" ixy="0" ixz="0" iyy="1e-06" iyz="0" izz="1e-06"/>
    </inertial>
  </link>
  <joint name="left_z_joint" type="prismatic">
    <parent link="base_link"/>
    <child link="left_z_link"/>
    <origin rpy="0 0 0" xyz="0.0633 0.2075 0.20311"/>
    <axis xyz="0 0 1"/>
    <limit effort="0" lower="1e-06" upper="0.08969" velocity="0"/>
  </joint>
  <link name="left_z_link">
    <visual>
      <origin rpy="0 0 0" xyz="0 0 0"/>
      <geometry>
        <mesh filename="package://engineer_description/meshes/left_z_link.STL"/>
      </geometry>
      <material name="white">
        <color rgba="1.0 1.0 1.0 1.0"/>
      </material>
    </visual>
    <collision>
      <origin rpy="0 0 0" xyz="0 0 0"/>
      <geometry>
        <mesh filename="package://engineer_description/meshes/left_z_link.STL"/>
      </geometry>
    </collision>
    <inertial>
      <origin rpy="0 0 0" xyz="-0.058037 0.007699 0.062634"/>
      <mass value="2.06473"/>
      <inertia ixx="0.007718" ixy="0.000177" ixz="0.000195" iyy="0.028724" iyz="1e-05" izz="0.024449"/>
    </inertial>
  </link>
  <joint name="left_x_joint" type="prismatic">
    <parent link="left_z_link"/>
    <child link="left_x_link"/>
    <origin rpy="0 0 0" xyz="-0.221 0.0325 0.144"/>
    <axis xyz="1 0 0"/>
    <limit effort="0" lower="1e-06" upper="0.3096" velocity="0"/>
  </joint>
  <link name="left_x_link">
    <visual>
      <origin rpy="0 0 0" xyz="0 0 0"/>
      <geometry>
        <mesh filename="package://engineer_description/meshes/left_x_link.STL"/>
      </geometry>
      <material name="white">
        <color rgba="1.0 1.0 1.0 1.0"/>
      </material>
    </visual>
    <collision>
      <origin rpy="0 0 0" xyz="0 0 0"/>
      <geometry>
        <mesh filename="package://engineer_description/meshes/left_x_link.STL"/>
      </geometry>
    </collision>
    <inertial>
      <origin rpy="0 0 0" xyz="0.161562 -0.055708 -0.018456"/>
      <mass value="0.814767"/>
      <inertia ixx="0.000786" ixy="0.0003" ixz="0.001781" iyy="0.026338" iyz="-2.6e-05" izz="0.026443"/>
    </inertial>
  </link>
  <joint name="left_yaw_joint" type="revolute">
    <parent link="left_x_link"/>
    <child link="left_yaw_link"/>
    <origin rpy="0 0 0" xyz="0.4435 -0.0583 -0.0075"/>
    <axis xyz="0 0 1"/>
    <limit effort="0" lower="-2.0944" upper="2.0944" velocity="0"/>
  </joint>
  <link name="left_yaw_link">
    <visual>
      <origin rpy="0 0 0" xyz="0 0 0"/>
      <geometry>
        <mesh filename="package://engineer_description/meshes/left_yaw_link.STL"/>
      </geometry>
      <material name="white">
        <color rgba="1.0 1.0 1.0 1.0"/>
      </material>
    </visual>
    <collision>
      <origin rpy="0 0 0" xyz="0 0 0"/>
      <geometry>
        <mesh filename="package://engineer_description/meshes/left_yaw_link.STL"/>
      </geometry>
    </collision>
    <inertial>
      <origin rpy="0 0 0" xyz="0.063197 -2.2e-05 -0.031301"/>
      <mass value="0.06449"/>
      <inertia ixx="6.9e-05" ixy="0" ixz="4.9e-05" iyy="0.000137" iyz="0" izz="8.6e-05"/>
    </inertial>
  </link>
  <joint name="right_z_joint" type="prismatic">
    <parent link="base_link"/>
    <child link="right_z_link"/>
    <origin rpy="0 0 0" xyz="0.0658 -0.2075 0.20311"/>
    <axis xyz="0 0 1"/>
    <limit effort="0" lower="1e-06" upper="0.08969" velocity="0"/>
  </joint>
  <link name="right_z_link">
    <visual>
      <origin rpy="0 0 0" xyz="0 0 0"/>
      <geometry>
        <mesh filename="package://engineer_description/meshes/right_z_link.STL"/>
      </geometry>
      <material name="white">
        <color rgba="1.0 1.0 1.0 1.0"/>
      </material>
    </visual>
    <collision>
      <origin rpy="0 0 0" xyz="0 0 0"/>
      <geometry>
        <mesh filename="package://engineer_description/meshes/right_z_link.STL"/>
      </geometry>
    </collision>
    <inertial>
      <origin rpy="0 0 0" xyz="-0.055178 -0.004026 0.059103"/>
      <mass value="1.69853"/>
      <inertia ixx="0.005215" ixy="-0.000469" ixz="-4.1e-05" iyy="0.024571" iyz="-0.000786" izz="0.021373"/>
    </inertial>
  </link>
  <joint name="right_x_joint" type="prismatic">
    <parent link="right_z_link"/>
    <child link="right_x_link"/>
    <origin rpy="0 0 0" xyz="-0.2481 -0.032 0.144"/>
    <axis xyz="1 0 0"/>
    <limit effort="0" lower="1e-06" upper="0.3096" velocity="0"/>
  </joint>
  <link name="right_x_link">
    <visual>
      <origin rpy="0 0 0" xyz="0 0 0"/>
      <geometry>
        <mesh filename="package://engineer_description/meshes/right_x_link.STL"/>
      </geometry>
      <material name="white">
        <color rgba="1.0 1.0 1.0 1.0"/>
      </material>
    </visual>
    <collision>
      <origin rpy="0 0 0" xyz="0 0 0"/>
      <geometry>
        <mesh filename="package://engineer_description/meshes/right_x_link.STL"/>
      </geometry>
    </collision>
    <inertial>
      <origin rpy="0 0 0" xyz="0.205338 0.052611 -0.020548"/>
      <mass value="0.603922"/>
      <inertia ixx="0.000591" ixy="-0.000686" ixz="0.001355" iyy="0.021109" iyz="6.5e-05" izz="0.021222"/>
    </inertial>
  </link>
  <joint name="right_yaw_joint" type="revolute">
    <parent link="right_x_link"/>
    <child link="right_yaw_link"/>
    <origin rpy="0 0 0.018823" xyz="0.4435 0.0583 -0.0055"/>
    <axis xyz="0 0 1"/>
    <limit effort="0" lower="-2.0944" upper="2.0944" velocity="0"/>
  </joint>
  <link name="right_yaw_link">
    <visual>
      <origin rpy="0 0 0" xyz="0 0 0"/>
      <geometry>
        <mesh filename="package://engineer_description/meshes/right_yaw_link.STL"/>
      </geometry>
      <material name="white">
        <color rgba="1.0 1.0 1.0 1.0"/>
      </material>
    </visual>
    <collision>
      <origin rpy="0 0 0" xyz="0 0 0"/>
      <geometry>
        <mesh filename="package://engineer_description/meshes/right_yaw_link.STL"/>
      </geometry>
    </collision>
    <inertial>
      <origin rpy="0 0 0" xyz="0.063197 2.2e-05 -0.033301"/>
      <mass value="0.06449"/>
      <inertia ixx="6.9e-05" ixy="0" ixz="4.9e-05" iyy="0.000137" iyz="0" izz="8.6e-05"/>
    </inertial>
  </link>
  <joint name="engineer_depth_camera_joint" type="fixed">
    <parent link="link4"/>
    <child link="engineer_depth_camera_link"/>
    <origin rpy="0 0 0" xyz="0 0 0.075"/>
    <axis xyz="0 0 1"/>
  </joint>
  <link name="engineer_depth_camera_link">
    <visual>
      <origin rpy="0 0 0" xyz="0 0 0"/>
      <geometry>
        <cylinder length="0.0002" radius="0.0002"/>
      </geometry>
      <material name="black">
        <color rgba="0.0 0.0 0.0 1.0"/>
      </material>
    </visual>
  </link>
  <joint name="engineer_depth_camera_optical_joint" type="fixed">
    <origin rpy="-1.5707963267948966 0 -1.5707963267948966" xyz="0 0 0"/>
    <parent link="engineer_depth_camera_link"/>
    <child link="engineer_depth_camera_optical_link"/>
  </joint>
  <link name="engineer_depth_camera_optical_link"/>
  <transmission name="LF_trans">
    <type>transmission_interface/SimpleTransmission</type>
    <joint name="LF_joint">
      <hardwareInterface>hardware_interface/VelocityJointInterface</hardwareInterface>
    </joint>
    <actuator name="LF_motor">
      <hardwareInterface>hardware_interface/VelocityJointInterface</hardwareInterface>
      <mechanicalReduction>1</mechanicalReduction>
    </actuator>
  </transmission>
  <transmission name="RF_trans">
    <type>transmission_interface/SimpleTransmission</type>
    <joint name="RF_joint">
      <hardwareInterface>hardware_interface/VelocityJointInterface</hardwareInterface>
    </joint>
    <actuator name="RF_motor">
      <hardwareInterface>hardware_interface/VelocityJointInterface</hardwareInterface>
      <mechanicalReduction>1</mechanicalReduction>
    </actuator>
  </transmission>
  <transmission name="RB_trans">
    <type>transmission_interface/SimpleTransmission</type>
    <joint name="RB_joint">
      <hardwareInterface>hardware_interface/VelocityJointInterface</hardwareInterface>
    </joint>
    <actuator name="RB_motor">
      <hardwareInterface>hardware_interface/VelocityJointInterface</hardwareInterface>
      <mechanicalReduction>1</mechanicalReduction>
    </actuator>
  </transmission>
  <transmission name="LB_trans">
    <type>transmission_interface/SimpleTransmission</type>
    <joint name="LB_joint">
      <hardwareInterface>hardware_interface/VelocityJointInterface</hardwareInterface>
    </joint>
    <actuator name="LB_motor">
      <hardwareInterface>hardware_interface/VelocityJointInterface</hardwareInterface>
      <mechanicalReduction>1</mechanicalReduction>
    </actuator>
  </transmission>
  <gazebo reference="wheel_LF">
    <selfCollide>true</selfCollide>
    <gravity>true</gravity>
    <mu1>50</mu1>
    <mu2>50</mu2>
    <kp>1e50</kp>
    <kd>1e50</kd>
    <material>Gazebo/White</material>
  </gazebo>
  <gazebo reference="wheel_RF">
    <selfCollide>true</selfCollide>
    <gravity>true</gravity>
    <mu1>50</mu1>
    <mu2>50</mu2>
    <kp>1e50</kp>
    <kd>1e50</kd>
    <material>Gazebo/White</material>
  </gazebo>
  <gazebo reference="wheel_RB">
    <selfCollide>true</selfCollide>
    <gravity>true</gravity>
    <mu1>50</mu1>
    <mu2>50</mu2>
    <kp>1e50</kp>
    <kd>1e50</kd>
    <material>Gazebo/White</material>
  </gazebo>
  <gazebo reference="wheel_LB">
    <selfCollide>true</selfCollide>
    <gravity>true</gravity>
    <mu1>50</mu1>
    <mu2>50</mu2>
    <kp>1e50</kp>
    <kd>1e50</kd>
    <material>Gazebo/White</material>
  </gazebo>
  <gazebo reference="roller_LF_1_link">
    <selfCollide>true</selfCollide>
    <gravity>true</gravity>
    <mu1>30</mu1>
    <mu2>30</mu2>
    <kp>1e50</kp>
    <kd>1e50</kd>
    <material>Gazebo/Grey</material>
  </gazebo>
  <gazebo reference="roller_LF_2_link">
    <selfCollide>true</selfCollide>
    <gravity>true</gravity>
    <mu1>30</mu1>
    <mu2>30</mu2>
    <kp>1e50</kp>
    <kd>1e50</kd>
    <material>Gazebo/Grey</material>
  </gazebo>
  <gazebo reference="roller_LF_3_link">
    <selfCollide>true</selfCollide>
    <gravity>true</gravity>
    <mu1>30</mu1>
    <mu2>30</mu2>
    <kp>1e50</kp>
    <kd>1e50</kd>
    <material>Gazebo/Grey</material>
  </gazebo>
  <gazebo reference="roller_LF_4_link">
    <selfCollide>true</selfCollide>
    <gravity>true</gravity>
    <mu1>30</mu1>
    <mu2>30</mu2>
    <kp>1e50</kp>
    <kd>1e50</kd>
    <material>Gazebo/Grey</material>
  </gazebo>
  <gazebo reference="roller_LF_5_link">
    <selfCollide>true</selfCollide>
    <gravity>true</gravity>
    <mu1>30</mu1>
    <mu2>30</mu2>
    <kp>1e50</kp>
    <kd>1e50</kd>
    <material>Gazebo/Grey</material>
  </gazebo>
  <gazebo reference="roller_LF_6_link">
    <selfCollide>true</selfCollide>
    <gravity>true</gravity>
    <mu1>30</mu1>
    <mu2>30</mu2>
    <kp>1e50</kp>
    <kd>1e50</kd>
    <material>Gazebo/Grey</material>
  </gazebo>
  <gazebo reference="roller_LF_7_link">
    <selfCollide>true</selfCollide>
    <gravity>true</gravity>
    <mu1>30</mu1>
    <mu2>30</mu2>
    <kp>1e50</kp>
    <kd>1e50</kd>
    <material>Gazebo/Grey</material>
  </gazebo>
  <gazebo reference="roller_LF_8_link">
    <selfCollide>true</selfCollide>
    <gravity>true</gravity>
    <mu1>30</mu1>
    <mu2>30</mu2>
    <kp>1e50</kp>
    <kd>1e50</kd>
    <material>Gazebo/Grey</material>
  </gazebo>
  <gazebo reference="roller_LF_9_link">
    <selfCollide>true</selfCollide>
    <gravity>true</gravity>
    <mu1>30</mu1>
    <mu2>30</mu2>
    <kp>1e50</kp>
    <kd>1e50</kd>
    <material>Gazebo/Grey</material>
  </gazebo>
  <gazebo reference="roller_LF_10_link">
    <selfCollide>true</selfCollide>
    <gravity>true</gravity>
    <mu1>30</mu1>
    <mu2>30</mu2>
    <kp>1e50</kp>
    <kd>1e50</kd>
    <material>Gazebo/Grey</material>
  </gazebo>
  <gazebo reference="roller_LF_11_link">
    <selfCollide>true</selfCollide>
    <gravity>true</gravity>
    <mu1>30</mu1>
    <mu2>30</mu2>
    <kp>1e50</kp>
    <kd>1e50</kd>
    <material>Gazebo/Grey</material>
  </gazebo>
  <gazebo reference="roller_LF_12_link">
    <selfCollide>true</selfCollide>
    <gravity>true</gravity>
    <mu1>30</mu1>
    <mu2>30</mu2>
    <kp>1e50</kp>
    <kd>1e50</kd>
    <material>Gazebo/Grey</material>
  </gazebo>
  <gazebo reference="roller_LF_13_link">
    <selfCollide>true</selfCollide>
    <gravity>true</gravity>
    <mu1>30</mu1>
    <mu2>30</mu2>
    <kp>1e50</kp>
    <kd>1e50</kd>
    <material>Gazebo/Grey</material>
  </gazebo>
  <gazebo reference="roller_LF_14_link">
    <selfCollide>true</selfCollide>
    <gravity>true</gravity>
    <mu1>30</mu1>
    <mu2>30</mu2>
    <kp>1e50</kp>
    <kd>1e50</kd>
    <material>Gazebo/Grey</material>
  </gazebo>
  <gazebo reference="roller_LF_15_link">
    <selfCollide>true</selfCollide>
    <gravity>true</gravity>
    <mu1>30</mu1>
    <mu2>30</mu2>
    <kp>1e50</kp>
    <kd>1e50</kd>
    <material>Gazebo/Grey</material>
  </gazebo>
  <gazebo reference="roller_LF_16_link">
    <selfCollide>true</selfCollide>
    <gravity>true</gravity>
    <mu1>30</mu1>
    <mu2>30</mu2>
    <kp>1e50</kp>
    <kd>1e50</kd>
    <material>Gazebo/Grey</material>
  </gazebo>
  <gazebo reference="roller_RF_1_link">
    <selfCollide>true</selfCollide>
    <gravity>true</gravity>
    <mu1>30</mu1>
    <mu2>30</mu2>
    <kp>1e50</kp>
    <kd>1e50</kd>
    <material>Gazebo/Grey</material>
  </gazebo>
  <gazebo reference="roller_RF_2_link">
    <selfCollide>true</selfCollide>
    <gravity>true</gravity>
    <mu1>30</mu1>
    <mu2>30</mu2>
    <kp>1e50</kp>
    <kd>1e50</kd>
    <material>Gazebo/Grey</material>
  </gazebo>
  <gazebo reference="roller_RF_3_link">
    <selfCollide>true</selfCollide>
    <gravity>true</gravity>
    <mu1>30</mu1>
    <mu2>30</mu2>
    <kp>1e50</kp>
    <kd>1e50</kd>
    <material>Gazebo/Grey</material>
  </gazebo>
  <gazebo reference="roller_RF_4_link">
    <selfCollide>true</selfCollide>
    <gravity>true</gravity>
    <mu1>30</mu1>
    <mu2>30</mu2>
    <kp>1e50</kp>
    <kd>1e50</kd>
    <material>Gazebo/Grey</material>
  </gazebo>
  <gazebo reference="roller_RF_5_link">
    <selfCollide>true</selfCollide>
    <gravity>true</gravity>
    <mu1>30</mu1>
    <mu2>30</mu2>
    <kp>1e50</kp>
    <kd>1e50</kd>
    <material>Gazebo/Grey</material>
  </gazebo>
  <gazebo reference="roller_RF_6_link">
    <selfCollide>true</selfCollide>
    <gravity>true</gravity>
    <mu1>30</mu1>
    <mu2>30</mu2>
    <kp>1e50</kp>
    <kd>1e50</kd>
    <material>Gazebo/Grey</material>
  </gazebo>
  <gazebo reference="roller_RF_7_link">
    <selfCollide>true</selfCollide>
    <gravity>true</gravity>
    <mu1>30</mu1>
    <mu2>30</mu2>
    <kp>1e50</kp>
    <kd>1e50</kd>
    <material>Gazebo/Grey</material>
  </gazebo>
  <gazebo reference="roller_RF_8_link">
    <selfCollide>true</selfCollide>
    <gravity>true</gravity>
    <mu1>30</mu1>
    <mu2>30</mu2>
    <kp>1e50</kp>
    <kd>1e50</kd>
    <material>Gazebo/Grey</material>
  </gazebo>
  <gazebo reference="roller_RF_9_link">
    <selfCollide>true</selfCollide>
    <gravity>true</gravity>
    <mu1>30</mu1>
    <mu2>30</mu2>
    <kp>1e50</kp>
    <kd>1e50</kd>
    <material>Gazebo/Grey</material>
  </gazebo>
  <gazebo reference="roller_RF_10_link">
    <selfCollide>true</selfCollide>
    <gravity>true</gravity>
    <mu1>30</mu1>
    <mu2>30</mu2>
    <kp>1e50</kp>
    <kd>1e50</kd>
    <material>Gazebo/Grey</material>
  </gazebo>
  <gazebo reference="roller_RF_11_link">
    <selfCollide>true</selfCollide>
    <gravity>true</gravity>
    <mu1>30</mu1>
    <mu2>30</mu2>
    <kp>1e50</kp>
    <kd>1e50</kd>
    <material>Gazebo/Grey</material>
  </gazebo>
  <gazebo reference="roller_RF_12_link">
    <selfCollide>true</selfCollide>
    <gravity>true</gravity>
    <mu1>30</mu1>
    <mu2>30</mu2>
    <kp>1e50</kp>
    <kd>1e50</kd>
    <material>Gazebo/Grey</material>
  </gazebo>
  <gazebo reference="roller_RF_13_link">
    <selfCollide>true</selfCollide>
    <gravity>true</gravity>
    <mu1>30</mu1>
    <mu2>30</mu2>
    <kp>1e50</kp>
    <kd>1e50</kd>
    <material>Gazebo/Grey</material>
  </gazebo>
  <gazebo reference="roller_RF_14_link">
    <selfCollide>true</selfCollide>
    <gravity>true</gravity>
    <mu1>30</mu1>
    <mu2>30</mu2>
    <kp>1e50</kp>
    <kd>1e50</kd>
    <material>Gazebo/Grey</material>
  </gazebo>
  <gazebo reference="roller_RF_15_link">
    <selfCollide>true</selfCollide>
    <gravity>true</gravity>
    <mu1>30</mu1>
    <mu2>30</mu2>
    <kp>1e50</kp>
    <kd>1e50</kd>
    <material>Gazebo/Grey</material>
  </gazebo>
  <gazebo reference="roller_RF_16_link">
    <selfCollide>true</selfCollide>
    <gravity>true</gravity>
    <mu1>30</mu1>
    <mu2>30</mu2>
    <kp>1e50</kp>
    <kd>1e50</kd>
    <material>Gazebo/Grey</material>
  </gazebo>
  <gazebo reference="roller_RB_1_link">
    <selfCollide>true</selfCollide>
    <gravity>true</gravity>
    <mu1>30</mu1>
    <mu2>30</mu2>
    <kp>1e50</kp>
    <kd>1e50</kd>
    <material>Gazebo/Grey</material>
  </gazebo>
  <gazebo reference="roller_RB_2_link">
    <selfCollide>true</selfCollide>
    <gravity>true</gravity>
    <mu1>30</mu1>
    <mu2>30</mu2>
    <kp>1e50</kp>
    <kd>1e50</kd>
    <material>Gazebo/Grey</material>
  </gazebo>
  <gazebo reference="roller_RB_3_link">
    <selfCollide>true</selfCollide>
    <gravity>true</gravity>
    <mu1>30</mu1>
    <mu2>30</mu2>
    <kp>1e50</kp>
    <kd>1e50</kd>
    <material>Gazebo/Grey</material>
  </gazebo>
  <gazebo reference="roller_RB_4_link">
    <selfCollide>true</selfCollide>
    <gravity>true</gravity>
    <mu1>30</mu1>
    <mu2>30</mu2>
    <kp>1e50</kp>
    <kd>1e50</kd>
    <material>Gazebo/Grey</material>
  </gazebo>
  <gazebo reference="roller_RB_5_link">
    <selfCollide>true</selfCollide>
    <gravity>true</gravity>
    <mu1>30</mu1>
    <mu2>30</mu2>
    <kp>1e50</kp>
    <kd>1e50</kd>
    <material>Gazebo/Grey</material>
  </gazebo>
  <gazebo reference="roller_RB_6_link">
    <selfCollide>true</selfCollide>
    <gravity>true</gravity>
    <mu1>30</mu1>
    <mu2>30</mu2>
    <kp>1e50</kp>
    <kd>1e50</kd>
    <material>Gazebo/Grey</material>
  </gazebo>
  <gazebo reference="roller_RB_7_link">
    <selfCollide>true</selfCollide>
    <gravity>true</gravity>
    <mu1>30</mu1>
    <mu2>30</mu2>
    <kp>1e50</kp>
    <kd>1e50</kd>
    <material>Gazebo/Grey</material>
  </gazebo>
  <gazebo reference="roller_RB_8_link">
    <selfCollide>true</selfCollide>
    <gravity>true</gravity>
    <mu1>30</mu1>
    <mu2>30</mu2>
    <kp>1e50</kp>
    <kd>1e50</kd>
    <material>Gazebo/Grey</material>
  </gazebo>
  <gazebo reference="roller_RB_9_link">
    <selfCollide>true</selfCollide>
    <gravity>true</gravity>
    <mu1>30</mu1>
    <mu2>30</mu2>
    <kp>1e50</kp>
    <kd>1e50</kd>
    <material>Gazebo/Grey</material>
  </gazebo>
  <gazebo reference="roller_RB_10_link">
    <selfCollide>true</selfCollide>
    <gravity>true</gravity>
    <mu1>30</mu1>
    <mu2>30</mu2>
    <kp>1e50</kp>
    <kd>1e50</kd>
    <material>Gazebo/Grey</material>
  </gazebo>
  <gazebo reference="roller_RB_11_link">
    <selfCollide>true</selfCollide>
    <gravity>true</gravity>
    <mu1>30</mu1>
    <mu2>30</mu2>
    <kp>1e50</kp>
    <kd>1e50</kd>
    <material>Gazebo/Grey</material>
  </gazebo>
  <gazebo reference="roller_RB_12_link">
    <selfCollide>true</selfCollide>
    <gravity>true</gravity>
    <mu1>30</mu1>
    <mu2>30</mu2>
    <kp>1e50</kp>
    <kd>1e50</kd>
    <material>Gazebo/Grey</material>
  </gazebo>
  <gazebo reference="roller_RB_13_link">
    <selfCollide>true</selfCollide>
    <gravity>true</gravity>
    <mu1>30</mu1>
    <mu2>30</mu2>
    <kp>1e50</kp>
    <kd>1e50</kd>
    <material>Gazebo/Grey</material>
  </gazebo>
  <gazebo reference="roller_RB_14_link">
    <selfCollide>true</selfCollide>
    <gravity>true</gravity>
    <mu1>30</mu1>
    <mu2>30</mu2>
    <kp>1e50</kp>
    <kd>1e50</kd>
    <material>Gazebo/Grey</material>
  </gazebo>
  <gazebo reference="roller_RB_15_link">
    <selfCollide>true</selfCollide>
    <gravity>true</gravity>
    <mu1>30</mu1>
    <mu2>30</mu2>
    <kp>1e50</kp>
    <kd>1e50</kd>
    <material>Gazebo/Grey</material>
  </gazebo>
  <gazebo reference="roller_RB_16_link">
    <selfCollide>true</selfCollide>
    <gravity>true</gravity>
    <mu1>30</mu1>
    <mu2>30</mu2>
    <kp>1e50</kp>
    <kd>1e50</kd>
    <material>Gazebo/Grey</material>
  </gazebo>
  <gazebo reference="roller_LB_1_link">
    <selfCollide>true</selfCollide>
    <gravity>true</gravity>
    <mu1>30</mu1>
    <mu2>30</mu2>
    <kp>1e50</kp>
    <kd>1e50</kd>
    <material>Gazebo/Grey</material>
  </gazebo>
  <gazebo reference="roller_LB_2_link">
    <selfCollide>true</selfCollide>
    <gravity>true</gravity>
    <mu1>30</mu1>
    <mu2>30</mu2>
    <kp>1e50</kp>
    <kd>1e50</kd>
    <material>Gazebo/Grey</material>
  </gazebo>
  <gazebo reference="roller_LB_3_link">
    <selfCollide>true</selfCollide>
    <gravity>true</gravity>
    <mu1>30</mu1>
    <mu2>30</mu2>
    <kp>1e50</kp>
    <kd>1e50</kd>
    <material>Gazebo/Grey</material>
  </gazebo>
  <gazebo reference="roller_LB_4_link">
    <selfCollide>true</selfCollide>
    <gravity>true</gravity>
    <mu1>30</mu1>
    <mu2>30</mu2>
    <kp>1e50</kp>
    <kd>1e50</kd>
    <material>Gazebo/Grey</material>
  </gazebo>
  <gazebo reference="roller_LB_5_link">
    <selfCollide>true</selfCollide>
    <gravity>true</gravity>
    <mu1>30</mu1>
    <mu2>30</mu2>
    <kp>1e50</kp>
    <kd>1e50</kd>
    <material>Gazebo/Grey</material>
  </gazebo>
  <gazebo reference="roller_LB_6_link">
    <selfCollide>true</selfCollide>
    <gravity>true</gravity>
    <mu1>30</mu1>
    <mu2>30</mu2>
    <kp>1e50</kp>
    <kd>1e50</kd>
    <material>Gazebo/Grey</material>
  </gazebo>
  <gazebo reference="roller_LB_7_link">
    <selfCollide>true</selfCollide>
    <gravity>true</gravity>
    <mu1>30</mu1>
    <mu2>30</mu2>
    <kp>1e50</kp>
    <kd>1e50</kd>
    <material>Gazebo/Grey</material>
  </gazebo>
  <gazebo reference="roller_LB_8_link">
    <selfCollide>true</selfCollide>
    <gravity>true</gravity>
    <mu1>30</mu1>
    <mu2>30</mu2>
    <kp>1e50</kp>
    <kd>1e50</kd>
    <material>Gazebo/Grey</material>
  </gazebo>
  <gazebo reference="roller_LB_9_link">
    <selfCollide>true</selfCollide>
    <gravity>true</gravity>
    <mu1>30</mu1>
    <mu2>30</mu2>
    <kp>1e50</kp>
    <kd>1e50</kd>
    <material>Gazebo/Grey</material>
  </gazebo>
  <gazebo reference="roller_LB_10_link">
    <selfCollide>true</selfCollide>
    <gravity>true</gravity>
    <mu1>30</mu1>
    <mu2>30</mu2>
    <kp>1e50</kp>
    <kd>1e50</kd>
    <material>Gazebo/Grey</material>
  </gazebo>
  <gazebo reference="roller_LB_11_link">
    <selfCollide>true</selfCollide>
    <gravity>true</gravity>
    <mu1>30</mu1>
    <mu2>30</mu2>
    <kp>1e50</kp>
    <kd>1e50</kd>
    <material>Gazebo/Grey</material>
  </gazebo>
  <gazebo reference="roller_LB_12_link">
    <selfCollide>true</selfCollide>
    <gravity>true</gravity>
    <mu1>30</mu1>
    <mu2>30</mu2>
    <kp>1e50</kp>
    <kd>1e50</kd>
    <material>Gazebo/Grey</material>
  </gazebo>
  <gazebo reference="roller_LB_13_link">
    <selfCollide>true</selfCollide>
    <gravity>true</gravity>
    <mu1>30</mu1>
    <mu2>30</mu2>
    <kp>1e50</kp>
    <kd>1e50</kd>
    <material>Gazebo/Grey</material>
  </gazebo>
  <gazebo reference="roller_LB_14_link">
    <selfCollide>true</selfCollide>
    <gravity>true</gravity>
    <mu1>30</mu1>
    <mu2>30</mu2>
    <kp>1e50</kp>
    <kd>1e50</kd>
    <material>Gazebo/Grey</material>
  </gazebo>
  <gazebo reference="roller_LB_15_link">
    <selfCollide>true</selfCollide>
    <gravity>true</gravity>
    <mu1>30</mu1>
    <mu2>30</mu2>
    <kp>1e50</kp>
    <kd>1e50</kd>
    <material>Gazebo/Grey</material>
  </gazebo>
  <gazebo reference="roller_LB_16_link">
    <selfCollide>true</selfCollide>
    <gravity>true</gravity>
    <mu1>30</mu1>
    <mu2>30</mu2>
    <kp>1e50</kp>
    <kd>1e50</kd>
    <material>Gazebo/Grey</material>
  </gazebo>
  <gazebo reference="base_link">
    <material>Gazebo/Grey</material>
    <self_collide>true</self_collide>
    <gravity>true</gravity>
  </gazebo>
  <gazebo reference="link1">
    <material>Gazebo/Grey</material>
    <self_collide>true</self_collide>
    <gravity>true</gravity>
  </gazebo>
  <gazebo reference="link2">
    <material>Gazebo/Grey</material>
    <self_collide>true</self_collide>
    <gravity>true</gravity>
  </gazebo>
  <gazebo reference="link3">
    <material>Gazebo/Grey</material>
    <self_collide>true</self_collide>
    <gravity>true</gravity>
  </gazebo>
  <gazebo reference="link4">
    <material>Gazebo/Grey</material>
    <self_collide>true</self_collide>
    <gravity>true</gravity>
  </gazebo>
  <gazebo reference="link5">
    <material>Gazebo/Grey</material>
    <self_collide>true</self_collide>
    <gravity>true</gravity>
  </gazebo>
  <gazebo reference="link6">
    <material>Gazebo/Grey</material>
    <self_collide>true</self_collide>
    <gravity>true</gravity>
  </gazebo>
  <gazebo reference="link7">
    <material>Gazebo/Grey</material>
    <self_collide>true</self_collide>
    <gravity>true</gravity>
  </gazebo>
  <gazebo reference="left_z_link">
    <material>Gazebo/Grey</material>
    <self_collide>true</self_collide>
    <gravity>true</gravity>
  </gazebo>
  <gazebo reference="left_x_link">
    <material>Gazebo/Grey</material>
    <self_collide>true</self_collide>
    <gravity>true</gravity>
  </gazebo>
  <gazebo reference="left_yaw_link">
    <material>Gazebo/Grey</material>
    <self_collide>true</self_collide>
    <gravity>true</gravity>
  </gazebo>
  <gazebo reference="right_z_link">
    <material>Gazebo/Grey</material>
    <self_collide>true</self_collide>
    <gravity>true</gravity>
  </gazebo>
  <gazebo reference="right_x_link">
    <material>Gazebo/Grey</material>
    <self_collide>true</self_collide>
    <gravity>true</gravity>
  </gazebo>
  <gazebo reference="right_yaw_link">
    <material>Gazebo/Grey</material>
    <self_collide>true</self_collide>
    <gravity>true</gravity>
  </gazebo>
  <gazebo reference="engineer_depth_camera">
    <selfCollide>false</selfCollide>
    <gravity>false</gravity>
    <mu1>30</mu1>
    <mu2>30</mu2>
    <kp>1e50</kp>
    <kd>1e50</kd>
    <material>Gazebo/White</material>
  </gazebo>
</robot>
